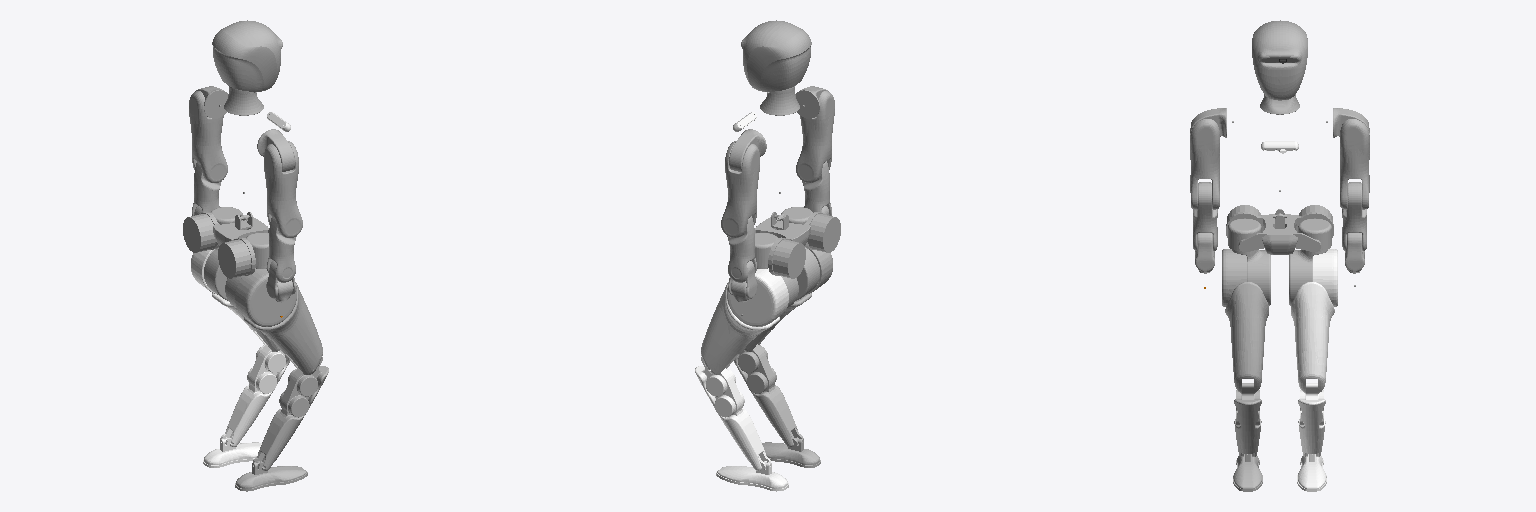
--- Facts derived from the render (not from the file) ---
3 views of the same robot in one strip: view 1: azimuth 30°, elevation 25°; view 2: azimuth 150°, elevation 25°; view 3: azimuth 270°, elevation 25° (orthographic).
Model l3 with 80 links and 79 joints (55 revolute, 24 fixed), rooted at base_link, posed every joint at zero.
Links seen in each view (by area): view 1: right_hip_pitch_link, neck_pitch_link, waist_yaw_link, right_knee_link, left_knee_link, right_shoulder_roll_link, right_ankle_roll_link, left_shoulder_roll_link, left_arm_yaw_link, right_arm_yaw_link, left_ankle_roll_link, left_hip_pitch_link (+8 smaller); view 2: left_hip_pitch_link, neck_pitch_link, waist_yaw_link, left_knee_link, right_knee_link, left_shoulder_roll_link, left_ankle_roll_link, right_shoulder_roll_link, left_arm_yaw_link, right_arm_yaw_link, right_ankle_roll_link, right_hip_pitch_link (+8 smaller); view 3: left_hip_pitch_link, right_hip_pitch_link, neck_pitch_link, waist_yaw_link, left_knee_link, right_knee_link, right_shoulder_roll_link, left_shoulder_roll_link, left_hip_yaw_link, right_hip_yaw_link, left_ankle_roll_link, right_ankle_roll_link (+9 smaller).
Link boxes in pixels (<box>): right_hip_pitch_link: <box>235,268,322,374</box>; neck_pitch_link: <box>212,20,282,91</box>; waist_yaw_link: <box>183,212,268,278</box>; right_knee_link: <box>253,357,328,470</box>; left_knee_link: <box>220,344,289,447</box>; right_shoulder_roll_link: <box>264,141,298,200</box>; right_ankle_roll_link: <box>235,462,307,491</box>; left_shoulder_roll_link: <box>189,91,223,145</box>; left_arm_yaw_link: <box>192,142,227,182</box>; right_arm_yaw_link: <box>267,197,302,237</box>; left_ankle_roll_link: <box>203,439,261,467</box>; left_hip_pitch_link: <box>191,249,279,351</box>; left_hip_pitch_link: <box>701,268,788,374</box>; neck_pitch_link: <box>741,20,811,91</box>; waist_yaw_link: <box>755,212,840,278</box>; left_knee_link: <box>695,357,770,470</box>; right_knee_link: <box>734,344,803,447</box>; left_shoulder_roll_link: <box>725,141,759,200</box>; left_ankle_roll_link: <box>716,462,788,491</box>; right_shoulder_roll_link: <box>800,91,834,145</box>; left_arm_yaw_link: <box>721,197,756,237</box>; right_arm_yaw_link: <box>796,142,831,182</box>; right_ankle_roll_link: <box>762,439,820,467</box>; right_hip_pitch_link: <box>744,249,832,351</box>; left_hip_pitch_link: <box>1291,249,1337,393</box>; right_hip_pitch_link: <box>1222,249,1268,393</box>; neck_pitch_link: <box>1252,20,1307,100</box>; waist_yaw_link: <box>1226,205,1333,254</box>; left_knee_link: <box>1298,383,1325,456</box>; right_knee_link: <box>1234,383,1261,456</box>; right_shoulder_roll_link: <box>1190,119,1219,172</box>; left_shoulder_roll_link: <box>1340,119,1369,172</box>; left_hip_yaw_link: <box>1289,250,1327,305</box>; right_hip_yaw_link: <box>1232,250,1270,305</box>; left_ankle_roll_link: <box>1297,454,1326,491</box>; right_ankle_roll_link: <box>1233,454,1262,491</box>.
Size in the robot's own frame: 0.3871 by 0.5897 by 1.61 metres.
41 mesh visuals loaded from 78 distinct referenced files (41 binary STL); not drawn: 37 (reference not matched to a file when rendering).

The robot description file, URDF, robot "l3":
<?xml version='1.0' encoding='utf-8'?>
<robot name="l3">
  <mujoco>
    <compiler
    meshdir="../meshes"
    balanceinertia="true"
    discardvisual="false"/>
  </mujoco>  
  <link name="base_link">
    <inertial>
      <origin xyz="0.0084431 0.0017506 -0.15762" rpy="0 0 0" />
      <mass value="12" />
      <inertia ixx="0.1567" ixy="0.0007" ixz="-0.0013" iyy="0.136" iyz="0.0014" izz="0.0814" />
    </inertial>
    <visual>
      <origin xyz="0 0 0" rpy="0 0 0" />
      <geometry>
        <mesh filename="../meshes/base_link.STL" />
      </geometry>
      <material name="">
        <color rgba="0.75294 0.75294 0.75294 1" />
      </material>
    </visual>
    <collision>
      <origin xyz="0 0 0" rpy="0 0 0" />
      <geometry>
        <mesh filename="../meshes/base_link.STL" />
      </geometry>
    </collision>
  </link>
  <link name="neck_yaw_link">
    <inertial>
      <origin xyz="0.022925 0.0064532 0.1431" rpy="0 0 0" />
      <mass value="0.64" />
      <inertia ixx="0.0007" ixy="7.2177E-07" ixz="6.2158E-05" iyy="0.00076082" iyz="-1.0259E-07" izz="0.00066743" />
    </inertial>
    <visual>
      <origin xyz="0 0 0" rpy="0 0 0" />
      <geometry>
        <mesh filename="../meshes/neck_yaw_link.STL" />
      </geometry>
      <material name="">
        <color rgba="0.75294 0.75294 0.75294 1" />
      </material>
    </visual>
    <collision>
      <origin xyz="0 0 0" rpy="0 0 0" />
      <geometry>
        <mesh filename="../meshes/neck_yaw_link.STL" />
      </geometry>
    </collision>
  </link>
  <joint name="neck_yaw_joint" type="revolute">
    <origin xyz="0 0 0.2365" rpy="0 0 0" />
    <parent link="base_link" />
    <child link="neck_yaw_link" />
    <axis xyz="0.0 0.0 1.0" />
    <limit lower="-1.57" upper="1.57" effort="35.0" velocity="4.19" />
    <dynamics friction="1.111" />
  </joint>
  <link name="neck_pitch_link">
    <inertial>
      <origin xyz="-0.011299 0.00058037 0.091458" rpy="0 0 0" />
      <mass value="1.15" />
      <inertia ixx="0.0068" ixy="5.8684E-07" ixz="-0.001" iyy="0.008" iyz="-1.8384E-06" izz="0.0067" />
    </inertial>
    <visual>
      <origin xyz="0 0 0" rpy="0 0 0" />
      <geometry>
        <mesh filename="../meshes/neck_pitch_link.STL" />
      </geometry>
      <material name="">
        <color rgba="0.75294 0.75294 0.75294 1" />
      </material>
    </visual>
    <collision>
      <origin xyz="0 0 0" rpy="0 0 0" />
      <geometry>
        <mesh filename="../meshes/neck_pitch_link.STL" />
      </geometry>
    </collision>
  </link>
  <joint name="neck_pitch_joint" type="revolute">
    <origin xyz="0.032 0 0.1535" rpy="0 0 0" />
    <parent link="neck_yaw_link" />
    <child link="neck_pitch_link" />
    <axis xyz="0.0 1.0 0.0" />
    <limit lower="-0.17" upper="0.54" effort="35.0" velocity="4.19" />
    <dynamics friction="1.111" />
  </joint>
  <link name="mic_link">
    <inertial>
      <origin xyz="4.0559559438211E-15 5.0626883046772E-14 0.00250000000000028" rpy="0 0 0" />
      <mass value="1.375E-08" />
      <inertia ixx="5.72916666666666E-14" ixy="-3.25716998007038E-30" ixz="-4.41640888106544E-30" iyy="5.72916666666666E-14" iyz="1.14211830008865E-30" izz="5.72916666666666E-14" />
    </inertial>
    <visual>
      <origin xyz="0 0 0" rpy="0 0 0" />
      <geometry>
        <mesh filename="../meshes/mic_link.STL" />
      </geometry>
      <material name="">
        <color rgba="1 0.549019607843137 0 1" />
      </material>
    </visual>
    <collision>
      <origin xyz="0 0 0" rpy="0 0 0" />
      <geometry>
        <mesh filename="../meshes/mic_link.STL" />
      </geometry>
    </collision>
  </link>
  <joint name="mic_joint" type="fixed">
    <origin xyz="-0.032 0 0.18725" rpy="0 0 0" />
    <parent link="neck_pitch_link" />
    <child link="mic_link" />
    <axis xyz="0.0 0.0 0.0" />
  </joint>
  <link name="head_rs_link">
    <inertial>
      <origin xyz="0.047424 0.00014285 -0.0082421" rpy="0 0 0" />
      <mass value="0.076907" />
      <inertia ixx="8.6659E-06" ixy="9.2769E-08" ixz="-9.1747E-08" iyy="9.4298E-05" iyz="9.0197E-08" izz="9.4996E-05" />
    </inertial>
    <visual>
      <origin xyz="0 0 0" rpy="0 0 0" />
      <geometry>
        <mesh filename="../meshes/head_rs_link.STL" />
      </geometry>
      <material name="">
        <color rgba="0.25098 0.25098 0.25098 1" />
      </material>
    </visual>
    <collision>
      <origin xyz="0 0 0" rpy="0 0 0" />
      <geometry>
        <mesh filename="../meshes/head_rs_link.STL" />
      </geometry>
    </collision>
  </link>
  <joint name="head_rs_joint" type="fixed">
    <origin xyz="0.070728434602136 0.0475000000000512 0.127173847577293" rpy="-2.0943951023932 0 -1.57079632679506" />
    <parent link="neck_pitch_link" />
    <child link="head_rs_link" />
    <axis xyz="0.0 0.0 0.0" />
  </joint>
  <link name="left_arm_base_link">
    <inertial>
      <origin xyz="0.00016424 0.033422 -0.0016166" rpy="0 0 0" />
      <mass value="0.9172" />
      <inertia ixx="0.0009" ixy="-6.5718E-07" ixz="4.9197E-07" iyy="0.0009" iyz="-3.689E-06" izz="0.0009" />
    </inertial>
    <visual>
      <origin xyz="0 0 0" rpy="0 0 0" />
      <geometry>
        <mesh filename="../meshes/left_arm_base_link.STL" />
      </geometry>
      <material name="">
        <color rgba="0.75294 0.75294 0.75294 1" />
      </material>
    </visual>
    <collision>
      <origin xyz="0 0 0" rpy="0 0 0" />
      <geometry>
        <mesh filename="../meshes/left_arm_base_link.STL" />
      </geometry>
    </collision>
  </link>
  <joint name="left_arm_base_joint" type="fixed">
    <origin xyz="0 0.112 0.2365" rpy="0 0 0" />
    <parent link="base_link" />
    <child link="left_arm_base_link" />
    <axis xyz="0.0 0.0 0.0" />
    <limit lower="0" upper="0" effort="0" velocity="0" />
  </joint>
  <link name="left_shoulder_pitch_link">
    <inertial>
      <origin xyz="-0.010548 0.12346 -0.021666" rpy="0 0 0" />
      <mass value="1.1618" />
      <inertia ixx="0.002" ixy="-0.0001" ixz="2.6138E-07" iyy="0.0015" iyz="-0.0002" izz="0.0019146" />
    </inertial>
    <visual>
      <origin xyz="0 0 0" rpy="0 0 0" />
      <geometry>
        <mesh filename="../meshes/left_shoulder_pitch_link.STL" />
      </geometry>
      <material name="">
        <color rgba="0.75294 0.75294 0.75294 1" />
      </material>
    </visual>
    <collision>
      <origin xyz="0 0 0" rpy="0 0 0" />
      <geometry>
        <mesh filename="../meshes/left_shoulder_pitch_link.STL" />
      </geometry>
    </collision>
  </link>
  <joint name="left_shoulder_pitch_joint" type="revolute">
    <origin xyz="0 0 0" rpy="0 0 0" />
    <parent link="left_arm_base_link" />
    <child link="left_shoulder_pitch_link" />
    <axis xyz="0.0 1.0 0.0" />
    <limit lower="-2.79" upper="2.79" effort="110.0" velocity="4.19" />
    <dynamics friction="1.222" />
  </joint>
  <link name="left_shoulder_roll_link">
    <inertial>
      <origin xyz="-0.0010652 -0.00016594 -0.091811" rpy="0 0 0" />
      <mass value="1.1852" />
      <inertia ixx="0.0029" ixy="-2.4124E-06" ixz="-7.7624E-06" iyy="0.0029" iyz="1.0466E-05" izz="0.0016" />
    </inertial>
    <visual>
      <origin xyz="0 0 0" rpy="0 0 0" />
      <geometry>
        <mesh filename="../meshes/left_shoulder_roll_link.STL" />
      </geometry>
      <material name="">
        <color rgba="0.75294 0.75294 0.75294 1" />
      </material>
    </visual>
    <collision>
      <origin xyz="0 0 0" rpy="0 0 0" />
      <geometry>
        <mesh filename="../meshes/left_shoulder_roll_link.STL" />
      </geometry>
    </collision>
  </link>
  <joint name="left_shoulder_roll_joint" type="revolute">
    <origin xyz="0 0.133 -0.025" rpy="0 0 0" />
    <parent link="left_shoulder_pitch_link" />
    <child link="left_shoulder_roll_link" />
    <axis xyz="1.0 0.0 0.0" />
    <limit lower="-0.24" upper="1.83" effort="110.0" velocity="4.19" />
    <dynamics friction="1.222" />
  </joint>
  <link name="left_arm_yaw_link">
    <inertial>
      <origin xyz="0.0033229 -0.0016876 -0.18801" rpy="0 0 0" />
      <mass value="0.354" />
      <inertia ixx="0.0011" ixy="3.633E-07" ixz="0.00013546" iyy="0.001" iyz="1.2618E-06" izz="0.0007" />
    </inertial>
    <visual>
      <origin xyz="0 0 0" rpy="0 0 0" />
      <geometry>
        <mesh filename="../meshes/left_arm_yaw_link.STL" />
      </geometry>
      <material name="">
        <color rgba="0.75294 0.75294 0.75294 1" />
      </material>
    </visual>
    <collision>
      <origin xyz="0 0 0" rpy="0 0 0" />
      <geometry>
        <mesh filename="../meshes/left_arm_yaw_link.STL" />
      </geometry>
    </collision>
  </link>
  <joint name="left_arm_yaw_joint" type="revolute">
    <origin xyz="0 0 0" rpy="0 0 0" />
    <parent link="left_shoulder_roll_link" />
    <child link="left_arm_yaw_link" />
    <axis xyz="0.0 0.0 1.0" />
    <limit lower="-2.79" upper="2.79" effort="110.0" velocity="4.19" />
    <dynamics friction="1.222" />
  </joint>
  <link name="left_elbow_pitch_link">
    <inertial>
      <origin xyz="-0.0079717 -0.0068363 -0.045353" rpy="0 0 0" />
      <mass value="1.567" />
      <inertia ixx="0.0048" ixy="-0.0001" ixz="0.0006" iyy="0.0048" iyz="0.0004" izz="0.0016" />
    </inertial>
    <visual>
      <origin xyz="0 0 0" rpy="0 0 0" />
      <geometry>
        <mesh filename="../meshes/left_elbow_pitch_link.STL" />
      </geometry>
      <material name="">
        <color rgba="0.75294 0.75294 0.75294 1" />
      </material>
    </visual>
    <collision>
      <origin xyz="0 0 0" rpy="0 0 0" />
      <geometry>
        <mesh filename="../meshes/left_elbow_pitch_link.STL" />
      </geometry>
    </collision>
  </link>
  <joint name="left_elbow_pitch_joint" type="revolute">
    <origin xyz="0.016 0 -0.232" rpy="0 0 0" />
    <parent link="left_arm_yaw_link" />
    <child link="left_elbow_pitch_link" />
    <axis xyz="0.0 1.0 0.0" />
    <limit lower="-2.36" upper="0.79" effort="110.0" velocity="4.19" />
    <dynamics friction="1.222" />
  </joint>
  <link name="left_elbow_yaw_link">
    <inertial>
      <origin xyz="3.0416E-06 -0.001965 0.030234" rpy="0 0 0" />
      <mass value="0.1556" />
      <inertia ixx="0.00019055" ixy="5.6249E-08" ixz="-2.3188E-08" iyy="0.0001" iyz="-2.1005E-06" izz="0.0002" />
    </inertial>
    <visual>
      <origin xyz="0 0 0" rpy="0 0 0" />
      <geometry>
        <mesh filename="../meshes/left_elbow_yaw_link.STL" />
      </geometry>
      <material name="">
        <color rgba="0.75294 0.75294 0.75294 1" />
      </material>
    </visual>
    <collision>
      <origin xyz="0 0 0" rpy="0 0 0" />
      <geometry>
        <mesh filename="../meshes/left_elbow_yaw_link.STL" />
      </geometry>
    </collision>
  </link>
  <joint name="left_elbow_yaw_joint" type="revolute">
    <origin xyz="-0.016 0 -0.166" rpy="0 0 0" />
    <parent link="left_elbow_pitch_link" />
    <child link="left_elbow_yaw_link" />
    <axis xyz="0.0 0.0 1.0" />
    <limit lower="-2.62" upper="2.62" effort="35.0" velocity="4.19" />
    <dynamics friction="1.111" />
  </joint>
  <link name="left_wrist_pitch_link">
    <inertial>
      <origin xyz="-0.00027663 -0.0069214 -0.0061943" rpy="0 0 0" />
      <mass value="0.625" />
      <inertia ixx="0.0006" ixy="1.3182E-08" ixz="-8.9769E-07" iyy="0.0006" iyz="7.1645E-06" izz="0.0004" />
    </inertial>
    <visual>
      <origin xyz="0 0 0" rpy="0 0 0" />
      <geometry>
        <mesh filename="../meshes/left_wrist_pitch_link.STL" />
      </geometry>
      <material name="">
        <color rgba="0.75294 0.75294 0.75294 1" />
      </material>
    </visual>
    <collision>
      <origin xyz="0 0 0" rpy="0 0 0" />
      <geometry>
        <mesh filename="../meshes/left_wrist_pitch_link.STL" />
      </geometry>
    </collision>
  </link>
  <joint name="left_wrist_pitch_joint" type="revolute">
    <origin xyz="0 0 0" rpy="0 0 0" />
    <parent link="left_elbow_yaw_link" />
    <child link="left_wrist_pitch_link" />
    <axis xyz="0.0 1.0 0.0" />
    <limit lower="-1.57" upper="1.57" effort="35.0" velocity="4.19" />
    <dynamics friction="1.111" />
  </joint>
  <link name="left_wrist_roll_link">
    <inertial>
      <origin xyz="-0.0075938 0.00010133 -0.00064617" rpy="0 0 0" />
      <mass value="0.58" />
      <inertia ixx="0.0003" ixy="-1.0565E-06" ixz="5.2302E-07" iyy="0.00027887" iyz="8.2448E-07" izz="0.0003" />
    </inertial>
    <visual>
      <origin xyz="0 0 0" rpy="0 0 0" />
      <geometry>
        <mesh filename="../meshes/left_wrist_roll_link.STL" />
      </geometry>
      <material name="">
        <color rgba="0.75294 0.75294 0.75294 1" />
      </material>
    </visual>
    <collision>
      <origin xyz="0 0 0" rpy="0 0 0" />
      <geometry>
        <mesh filename="../meshes/left_wrist_roll_link.STL" />
      </geometry>
    </collision>
  </link>
  <joint name="left_wrist_roll_joint" type="revolute">
    <origin xyz="0 0 -0.065" rpy="0 0 0" />
    <parent link="left_wrist_pitch_link" />
    <child link="left_wrist_roll_link" />
    <axis xyz="1.0 0.0 0.0" />
    <limit lower="-1.75" upper="1.75" effort="35.0" velocity="4.19" />
    <dynamics friction="1.111" />
  </joint>
  <link name="left_hand_base_link">
    <inertial>
      <origin xyz="-9.28058448083809E-16 0 0.0025" rpy="0 0 0" />
      <mass value="1.375E-08" />
      <inertia ixx="5.72916666666668E-14" ixy="-1.23935247990971E-29" ixz="7.41774071275437E-29" iyy="5.72916666666668E-14" iyz="-1.21732704397467E-31" izz="5.72916666666668E-14" />
    </inertial>
    <visual>
      <origin xyz="0 0 0" rpy="0 0 0" />
      <geometry>
        <mesh filename="../meshes/left_hand_base_link.STL" />
      </geometry>
      <material name="">
        <color rgba="1 0.549019607843137 0 1" />
      </material>
    </visual>
    <collision>
      <origin xyz="0 0 0" rpy="0 0 0" />
      <geometry>
        <mesh filename="../meshes/left_hand_base_link.STL" />
      </geometry>
    </collision>
  </link>
  <joint name="left_hand_base_joint" type="fixed">
    <origin xyz="0 0 -0.0400000000000008" rpy="0 0 0" />
    <parent link="left_wrist_roll_link" />
    <child link="left_hand_base_link" />
    <axis xyz="0.0 0.0 0.0" />
  </joint>
  <link name="left_hand_ee_link">
    <inertial>
      <origin xyz="-1.69621793423315E-16 -7.83468649371551E-16 0" rpy="0 0 0" />
      <mass value="3.53429173528852E-08" />
      <inertia ixx="3.97607820219958E-14" ixy="2.1306062234609E-28" ixz="-6.0696092927852E-27" iyy="9.35114688295087E-14" iyz="2.40522431637656E-41" izz="9.35114688295086E-14" />
    </inertial>
    <visual>
      <origin xyz="0 0 0" rpy="0 0 0" />
      <geometry>
        <mesh filename="../meshes/left_hand_ee_link.STL" />
      </geometry>
      <material name="">
        <color rgba="0.698039215686274 0.698039215686274 0.698039215686274 1" />
      </material>
    </visual>
    <collision>
      <origin xyz="0 0 0" rpy="0 0 0" />
      <geometry>
        <mesh filename="../meshes/left_hand_ee_link.STL" />
      </geometry>
    </collision>
  </link>
  <joint
    name="left_hand_ee_joint"
    type="fixed">
    <origin
      xyz="0 0 -0.06"
      rpy="3.1416 0 0" />
    <parent
      link="left_hand_link" />
    <child
      link="left_hand_ee_link" />
    <axis
      xyz="0 0 0" />
  </joint>  
  <link name="right_arm_base_link">
    <inertial>
      <origin xyz="-0.00016424 -0.033422 -0.0016166" rpy="0 0 0" />
      <mass value="0.9172" />
      <inertia ixx="0.0009" ixy="-6.5718E-07" ixz="-4.9197E-07" iyy="0.0009" iyz="3.689E-06" izz="0.0009" />
    </inertial>
    <visual>
      <origin xyz="0 0 0" rpy="0 0 0" />
      <geometry>
        <mesh filename="../meshes/right_arm_base_link.STL" />
      </geometry>
      <material name="">
        <color rgba="0.75294 0.75294 0.75294 1" />
      </material>
    </visual>
    <collision>
      <origin xyz="0 0 0" rpy="0 0 0" />
      <geometry>
        <mesh filename="../meshes/right_arm_base_link.STL" />
      </geometry>
    </collision>
  </link>
  <joint name="right_arm_base_joint" type="fixed">
    <origin xyz="0 -0.112 0.2365" rpy="0 0 0" />
    <parent link="base_link" />
    <child link="right_arm_base_link" />
    <axis xyz="0.0 0.0 0.0" />
  </joint>
  <link name="right_shoulder_pitch_link">
    <inertial>
      <origin xyz="-0.010534 -0.1231 -0.021409" rpy="0 0 0" />
      <mass value="1.1634" />
      <inertia ixx="0.0019" ixy="-1.4756E-06" ixz="5.7053E-07" iyy="0.0015" iyz="-6.7172E-05" izz="0.0019103" />
    </inertial>
    <visual>
      <origin xyz="0 0 0" rpy="0 0 0" />
      <geometry>
        <mesh filename="../meshes/right_shoulder_pitch_link.STL" />
      </geometry>
      <material name="">
        <color rgba="0.75294 0.75294 0.75294 1" />
      </material>
    </visual>
    <collision>
      <origin xyz="0 0 0" rpy="0 0 0" />
      <geometry>
        <mesh filename="../meshes/right_shoulder_pitch_link.STL" />
      </geometry>
    </collision>
  </link>
  <joint name="right_shoulder_pitch_joint" type="revolute">
    <origin xyz="0 0 0" rpy="0 0 0" />
    <parent link="right_arm_base_link" />
    <child link="right_shoulder_pitch_link" />
    <axis xyz="0.0 1.0 0.0" />
    <limit lower="-2.79" upper="2.79" effort="110.0" velocity="4.19" />
    <dynamics friction="1.222" />
  </joint>
  <link name="right_shoulder_roll_link">
    <inertial>
      <origin xyz="-0.001069 2.5863E-05 -0.09185" rpy="0 0 0" />
      <mass value="1.1852" />
      <inertia ixx="0.0029" ixy="-2.6029E-06" ixz="-7.8051E-06" iyy="0.0029" iyz="-1.2426E-05" izz="0.0016" />
    </inertial>
    <visual>
      <origin xyz="0 0 0" rpy="0 0 0" />
      <geometry>
        <mesh filename="../meshes/right_shoulder_roll_link.STL" />
      </geometry>
      <material name="">
        <color rgba="0.75294 0.75294 0.75294 1" />
      </material>
    </visual>
    <collision>
      <origin xyz="0 0 0" rpy="0 0 0" />
      <geometry>
        <mesh filename="../meshes/right_shoulder_roll_link.STL" />
      </geometry>
    </collision>
  </link>
  <joint name="right_shoulder_roll_joint" type="revolute">
    <origin xyz="0 -0.133 -0.025" rpy="0 0 0" />
    <parent link="right_shoulder_pitch_link" />
    <child link="right_shoulder_roll_link" />
    <axis xyz="1.0 0.0 0.0" />
    <limit lower="-1.83" upper="0.24" effort="110.0" velocity="4.19" />
    <dynamics friction="1.222" />
  </joint>
  <link name="right_arm_yaw_link">
    <inertial>
      <origin xyz="0.0018254 0.0021888 -0.18116" rpy="0 0 0" />
      <mass value="0.35384" />
      <inertia ixx="0.0011" ixy="-1.9189E-07" ixz="6.9862E-05" iyy="0.001" iyz="-6.1562E-07" izz="0.0007" />
    </inertial>
    <visual>
      <origin xyz="0 0 0" rpy="0 0 0" />
      <geometry>
        <mesh filename="../meshes/right_arm_yaw_link.STL" />
      </geometry>
      <material name="">
        <color rgba="0.75294 0.75294 0.75294 1" />
      </material>
    </visual>
    <collision>
      <origin xyz="0 0 0" rpy="0 0 0" />
      <geometry>
        <mesh filename="../meshes/right_arm_yaw_link.STL" />
      </geometry>
    </collision>
  </link>
  <joint name="right_arm_yaw_joint" type="revolute">
    <origin xyz="0 0 0" rpy="0 0 0" />
    <parent link="right_shoulder_roll_link" />
    <child link="right_arm_yaw_link" />
    <axis xyz="0.0 0.0 1.0" />
    <limit lower="-2.79" upper="2.79" effort="110.0" velocity="4.19" />
    <dynamics friction="1.222" />
  </joint>
  <link name="right_elbow_pitch_link">
    <inertial>
      <origin xyz="-0.008079 0.0068364 -0.045351" rpy="0 0 0" />
      <mass value="1.8745" />
      <inertia ixx="0.0048" ixy="0.0001" ixz="0.0005" iyy="0.0048" iyz="0.0004" izz="0.0016" />
    </inertial>
    <visual>
      <origin xyz="0 0 0" rpy="0 0 0" />
      <geometry>
        <mesh filename="../meshes/right_elbow_pitch_link.STL" />
      </geometry>
      <material name="">
        <color rgba="0.75294 0.75294 0.75294 1" />
      </material>
    </visual>
    <collision>
      <origin xyz="0 0 0" rpy="0 0 0" />
      <geometry>
        <mesh filename="../meshes/right_elbow_pitch_link.STL" />
      </geometry>
    </collision>
  </link>
  <joint name="right_elbow_pitch_joint" type="revolute">
    <origin xyz="0.016 0 -0.232" rpy="0 0 0" />
    <parent link="right_arm_yaw_link" />
    <child link="right_elbow_pitch_link" />
    <axis xyz="0.0 1.0 0.0" />
    <limit lower="-2.36" upper="0.79" effort="110.0" velocity="4.19" />
    <dynamics friction="1.222" />
  </joint>
  <link name="right_elbow_yaw_link">
    <inertial>
      <origin xyz="-3.0641E-06 0.001965 0.030234" rpy="0 0 0" />
      <mass value="0.1556" />
      <inertia ixx="0.00019055" ixy="5.6249E-08" ixz="2.3188E-08" iyy="0.0001" iyz="2.1005E-06" izz="0.0002" />
    </inertial>
    <visual>
      <origin xyz="0 0 0" rpy="0 0 0" />
      <geometry>
        <mesh filename="../meshes/right_elbow_yaw_link.STL" />
      </geometry>
      <material name="">
        <color rgba="0.75294 0.75294 0.75294 1" />
      </material>
    </visual>
    <collision>
      <origin xyz="0 0 0" rpy="0 0 0" />
      <geometry>
        <mesh filename="../meshes/right_elbow_yaw_link.STL" />
      </geometry>
    </collision>
  </link>
  <joint name="right_elbow_yaw_joint" type="revolute">
    <origin xyz="-0.016 0 -0.166" rpy="0 0 0" />
    <parent link="right_elbow_pitch_link" />
    <child link="right_elbow_yaw_link" />
    <axis xyz="0.0 0.0 1.0" />
    <limit lower="-2.62" upper="2.62" effort="35.0" velocity="4.19" />
    <dynamics friction="1.111" />
  </joint>
  <link name="right_wrist_pitch_link">
    <inertial>
      <origin xyz="-0.00021408 0.007602 -0.0035533" rpy="0 0 0" />
      <mass value="0.625" />
      <inertia ixx="0.0006" ixy="-2.5664E-07" ixz="-2.1058E-06" iyy="0.0006" iyz="-3.1746E-06" izz="0.0004" />
    </inertial>
    <visual>
      <origin xyz="0 0 0" rpy="0 0 0" />
      <geometry>
        <mesh filename="../meshes/right_wrist_pitch_link.STL" />
      </geometry>
      <material name="">
        <color rgba="0.75294 0.75294 0.75294 1" />
      </material>
    </visual>
    <collision>
      <origin xyz="0 0 0" rpy="0 0 0" />
      <geometry>
        <mesh filename="../meshes/right_wrist_pitch_link.STL" />
      </geometry>
    </collision>
  </link>
  <joint name="right_wrist_pitch_joint" type="revolute">
    <origin xyz="0 0 0" rpy="0 0 0" />
    <parent link="right_elbow_yaw_link" />
    <child link="right_wrist_pitch_link" />
    <axis xyz="0.0 1.0 0.0" />
    <limit lower="-1.57" upper="1.57" effort="35.0" velocity="4.19" />
    <dynamics friction="1.111" />
  </joint>
  <link name="right_wrist_roll_link">
    <inertial>
      <origin xyz="-0.0075938 0.00010133 -0.00064617" rpy="0 0 0" />
      <mass value="0.584" />
      <inertia ixx="0.0003" ixy="-1.0565E-06" ixz="5.2303E-07" iyy="0.00027887" iyz="8.2448E-07" izz="0.00029" />
    </inertial>
    <visual>
      <origin xyz="0 0 0" rpy="0 0 0" />
      <geometry>
        <mesh filename="../meshes/right_wrist_roll_link.STL" />
      </geometry>
      <material name="">
        <color rgba="0.75294 0.75294 0.75294 1" />
      </material>
    </visual>
    <collision>
      <origin xyz="0 0 0" rpy="0 0 0" />
      <geometry>
        <mesh filename="../meshes/right_wrist_roll_link.STL" />
      </geometry>
    </collision>
  </link>
  <joint name="right_wrist_roll_joint" type="revolute">
    <origin xyz="0 0 -0.065" rpy="0 0 0" />
    <parent link="right_wrist_pitch_link" />
    <child link="right_wrist_roll_link" />
    <axis xyz="1.0 0.0 0.0" />
    <limit lower="-1.75" upper="1.75" effort="35.0" velocity="4.19" />
    <dynamics friction="1.111" />
  </joint>
  <link name="right_hand_base_link">
    <inertial>
      <origin xyz="2.99955512309407E-14 -2.63677968348475E-15 0.0024999999999997" rpy="0 0 0" />
      <mass value="1.375E-08" />
      <inertia ixx="5.72916666666668E-14" ixy="-1.23935247990971E-29" ixz="7.41774071275437E-29" iyy="5.72916666666668E-14" iyz="-1.21732704397467E-31" izz="5.72916666666668E-14" />
    </inertial>
    <visual>
      <origin xyz="0 0 0" rpy="0 0 0" />
      <geometry>
        <mesh filename="../meshes/right_hand_base_link.STL" />
      </geometry>
      <material name="">
        <color rgba="1 0.549019607843137 0 1" />
      </material>
    </visual>
    <collision>
      <origin xyz="0 0 0" rpy="0 0 0" />
      <geometry>
        <mesh filename="../meshes/right_hand_base_link.STL" />
      </geometry>
    </collision>
  </link>
  <joint name="right_hand_base_joint" type="fixed">
    <origin xyz="0 0 -0.0399999999999996" rpy="0 0 0" />
    <parent link="right_wrist_roll_link" />
    <child link="right_hand_base_link" />
    <axis xyz="0.0 0.0 0.0" />
  </joint>
  <link name="right_hand_ee_link">
    <inertial>
      <origin xyz="-6.98527914532583E-15 -2.72004641033163E-15 0.00249999999999817" rpy="0 0 0" />
      <mass value="1.375E-08" />
      <inertia ixx="5.72916666666668E-14" ixy="-1.23935247990961E-29" ixz="-1.80141577278528E-28" iyy="5.72916666666668E-14" iyz="-4.55124076831941E-30" izz="5.72916666666668E-14" />
    </inertial>
    <visual>
      <origin xyz="0 0 0" rpy="0 0 0" />
      <geometry>
        <mesh filename="../meshes/right_hand_ee_link.STL" />
      </geometry>
      <material name="">
        <color rgba="1 0.549019607843137 0 1" />
      </material>
    </visual>
    <collision>
      <origin xyz="0 0 0" rpy="0 0 0" />
      <geometry>
        <mesh filename="../meshes/right_hand_ee_link.STL" />
      </geometry>
    </collision>
  </link>
    <joint
    name="right_hand_ee_joint"
    type="fixed">
    <origin
      xyz="0 0 -0.065"
      rpy="3.1416 0 0" />
    <parent
      link="right_hand_link" />
    <child
      link="right_hand_ee_link" />
    <axis
      xyz="0 0 0" />
  </joint>

  <link name="waist_base_link">
    <inertial>
      <origin xyz="-0.00086082 5.1861E-08 -0.050183" rpy="0 0 0" />
      <mass value="1.8301" />
      <inertia ixx="0.007" ixy="-1.1548E-06" ixz="-2.5479E-05" iyy="0.0018" iyz="1.7553E-10" izz="0.0074" />
    </inertial>
    <visual>
      <origin xyz="0 0 0" rpy="0 0 0" />
      <geometry>
        <mesh filename="../meshes/waist_base_link.STL" />
      </geometry>
      <material name="">
        <color rgba="0.75294 0.75294 0.75294 1" />
      </material>
    </visual>
    <collision>
      <origin xyz="0 0 0" rpy="0 0 0" />
      <geometry>
        <mesh filename="../meshes/waist_base_link.STL" />
      </geometry>
    </collision>
  </link>
  <joint name="waist_base_joint" type="fixed">
    <origin xyz="0 0 0" rpy="0 0 0" />
    <parent link="base_link" />
    <child link="waist_base_link" />
    <axis xyz="0.0 0.0 0.0" />
  </joint>
  <link name="waist_pitch_link">
    <inertial>
      <origin xyz="-3.9493E-09 -5.5675E-09 -5.9673E-05" rpy="0 0 0" />
      <mass value="0.068747" />
      <inertia ixx="5.3442E-06" ixy="-3.6643E-13" ixz="2.3097E-12" iyy="5.5342E-06" iyz="-9.5786E-13" izz="8.9493E-06" />
    </inertial>
    <visual>
      <origin xyz="0 0 0" rpy="0 0 0" />
      <geometry>
        <mesh filename="../meshes/waist_pitch_link.STL" />
      </geometry>
      <material name="">
        <color rgba="0.75294 0.75294 0.75294 1" />
      </material>
    </visual>
    <collision>
      <origin xyz="0 0 0" rpy="0 0 0" />
      <geometry>
        <mesh filename="../meshes/waist_pitch_link.STL" />
      </geometry>
    </collision>
  </link>
  <joint name="waist_pitch_joint" type="revolute">
    <origin xyz="0 0 -0.1015" rpy="0 0 0" />
    <parent link="waist_base_link" />
    <child link="waist_pitch_link" />
    <axis xyz="0.0 1.0 0.0" />
    <limit lower="-1.05" upper="0.09" effort="220.0" velocity="4.19" />
    <dynamics friction="1.222" />
  </joint>
  <link name="waist_roll_link">
    <inertial>
      <origin xyz="0.0028204 2.6985E-09 -0.017965" rpy="0 0 0" />
      <mass value="0.15785" />
      <inertia ixx="0.0001" ixy="1.7947E-10" ixz="1.1992E-06" iyy="0.0001" iyz="7.5361E-11" izz="0.0001" />
    </inertial>
    <visual>
      <origin xyz="0 0 0" rpy="0 0 0" />
      <geometry>
        <mesh filename="../meshes/waist_roll_link.STL" />
      </geometry>
      <material name="">
        <color rgba="0.75294 0.75294 0.75294 1" />
      </material>
    </visual>
    <collision>
      <origin xyz="0 0 0" rpy="0 0 0" />
      <geometry>
        <mesh filename="../meshes/waist_roll_link.STL" />
      </geometry>
    </collision>
  </link>
  <joint name="waist_roll_joint" type="revolute">
    <origin xyz="0 0 0" rpy="0 0 0" />
    <parent link="waist_pitch_link" />
    <child link="waist_roll_link" />
    <axis xyz="1.0 0.0 0.0" />
    <limit lower="-0.26" upper="0.26" effort="220.0" velocity="4.19" />
    <dynamics friction="1.222" />
  </joint>
  <link name="waist_yaw_link">
    <inertial>
      <origin xyz="-0.064098 -0.00018359 -0.074077" rpy="0 0 0" />
      <mass value="5.778" />
      <inertia ixx="0.068" ixy="4.0449E-06" ixz="0.0017" iyy="0.0188" iyz="-0.0002" izz="0.0756" />
    </inertial>
    <visual>
      <origin xyz="0 0 0" rpy="0 0 0" />
      <geometry>
        <mesh filename="../meshes/waist_yaw_link.STL" />
      </geometry>
      <material name="">
        <color rgba="0.75294 0.75294 0.75294 1" />
      </material>
    </visual>
    <collision>
      <origin xyz="0 0 0" rpy="0 0 0" />
      <geometry>
        <mesh filename="../meshes/waist_yaw_link.STL" />
      </geometry>
    </collision>
  </link>
  <joint name="waist_yaw_joint" type="revolute">
    <origin xyz="0 0 0" rpy="0 0 0" />
    <parent link="waist_roll_link" />
    <child link="waist_yaw_link" />
    <axis xyz="0.0 0.0 1.0" />
    <limit lower="-1.57" upper="1.57" effort="110.0" velocity="4.19" />
    <dynamics friction="1.222" />
  </joint>
  <link name="left_hip_roll_link">
    <inertial>
      <origin xyz="-0.0016523 6.6007E-06 0.003973" rpy="0 0 0" />
      <mass value="1.6446" />
      <inertia ixx="0.0023" ixy="-4.1132E-08" ixz="1.953E-05" iyy="0.0024" iyz="-6.1327E-07" izz="0.0029425" />
    </inertial>
    <visual>
      <origin xyz="0 0 0" rpy="0 0 0" />
      <geometry>
        <mesh filename="../meshes/left_hip_roll_link.STL" />
      </geometry>
      <material name="">
        <color rgba="0.75294 0.75294 0.75294 1" />
      </material>
    </visual>
    <collision>
      <origin xyz="0 0 0" rpy="0 0 0" />
      <geometry>
        <mesh filename="../meshes/left_hip_roll_link.STL" />
      </geometry>
    </collision>
  </link>
  <joint name="left_hip_roll_joint" type="revolute">
    <origin xyz="0 0.115 -0.079" rpy="0 0 0" />
    <parent link="waist_yaw_link" />
    <child link="left_hip_roll_link" />
    <axis xyz="1.0 0.0 0.0" />
    <limit lower="-0.21" upper="1.22" effort="255.0" velocity="7.28" />
    <dynamics friction="1.444" />
  </joint>
  <link name="left_hip_yaw_link">
    <inertial>
      <origin xyz="-0.00030509 -0.036415 -0.13923" rpy="0 0 0" />
      <mass value="3.9286" />
      <inertia ixx="0.0108" ixy="0.0001" ixz="6.0163E-05" iyy="0.0163" iyz="0.0006" izz="0.0089" />
    </inertial>
    <visual>
      <origin xyz="0 0 0" rpy="0 0 0" />
      <geometry>
        <mesh filename="../meshes/left_hip_yaw_link.STL" />
      </geometry>
      <material name="">
        <color rgba="0.75294 0.75294 0.75294 1" />
      </material>
    </visual>
    <collision>
      <origin xyz="0 0 0" rpy="0 0 0" />
      <geometry>
        <mesh filename="../meshes/left_hip_yaw_link.STL" />
      </geometry>
    </collision>
  </link>
  <joint name="left_hip_yaw_joint" type="revolute">
    <origin xyz="0 0 0" rpy="0 0 0" />
    <parent link="left_hip_roll_link" />
    <child link="left_hip_yaw_link" />
    <axis xyz="0.0 0.0 1.0" />
    <limit lower="-0.52" upper="1.22" effort="100" velocity="13.26" />
    <dynamics friction="1.333" />
  </joint>
  <link name="left_hip_pitch_link">
    <inertial>
      <origin xyz="0.0017618 0.037227 -0.029964" rpy="0 0 0" />
      <mass value="4.6841" />
      <inertia ixx="0.0422" ixy="-0.0004" ixz="-0.002" iyy="0.0469" iyz="0.0055" izz="0.0055" />
    </inertial>
    <visual>
      <origin xyz="0 0 0" rpy="0 0 0" />
      <geometry>
        <mesh filename="../meshes/left_hip_pitch_link.STL" />
      </geometry>
      <material name="">
        <color rgba="1 1 1 1" />
      </material>
    </visual>
    <collision>
      <origin xyz="0 0 0" rpy="0 0 0" />
      <geometry>
        <mesh filename="../meshes/left_hip_pitch_link.STL" />
      </geometry>
    </collision>
  </link>
  <joint name="left_hip_pitch_joint" type="revolute">
    <origin xyz="0 -0.01 -0.144" rpy="0 -0.5236 0" />
    <parent link="left_hip_yaw_link" />
    <child link="left_hip_pitch_link" />
    <axis xyz="0.0 1.0 0.0" />
    <limit lower="-1.57" upper="1.4" effort="400.0" velocity="24.94" />
    <dynamics friction="1.555" />
  </joint>
  <link name="left_knee_link">
    <inertial>
      <origin xyz="0.019103 -4.8925E-06 -0.11971" rpy="0 0 0" />
      <mass value="2.1362" />
      <inertia ixx="0.018" ixy="-6.9431E-07" ixz="0.0005" iyy="0.018" iyz="0.0001" izz="0.0019" />
    </inertial>
    <visual>
      <origin xyz="0 0 0" rpy="0 0 0" />
      <geometry>
        <mesh filename="../meshes/left_knee_link.STL" />
      </geometry>
      <material name="">
        <color rgba="1 1 1 1" />
      </material>
    </visual>
    <collision>
      <origin xyz="0 0 0" rpy="0 0 0" />
      <geometry>
        <mesh filename="../meshes/left_knee_link.STL" />
      </geometry>
    </collision>
  </link>
  <joint name="left_knee_joint" type="revolute">
    <origin xyz="0 0 -0.36" rpy="0 1.0472 0" />
    <parent link="left_hip_pitch_link" />
    <child link="left_knee_link" />
    <axis xyz="0.0 1.0 0.0" />
    <limit lower="-1.1" upper="1.31" effort="400.0" velocity="24.94" />
    <dynamics friction="1.555" />
  </joint>
  <link name="left_ankle_pitch_link">
    <inertial>
      <origin xyz="-0.00077711 1.5934E-09 5.1139E-05" rpy="0 0 0" />
      <mass value="0.080248" />
      <inertia ixx="4.8112E-06" ixy="-3.3221E-13" ixz="-2.5895E-09" iyy="5.5064E-06" iyz="6.6609E-12" izz="6.4137E-06" />
    </inertial>
    <visual>
      <origin xyz="0 0 0" rpy="0 0 0" />
      <geometry>
        <mesh filename="../meshes/left_ankle_pitch_link.STL" />
      </geometry>
      <material name="">
        <color rgba="1 1 1 1" />
      </material>
    </visual>
    <collision>
      <origin xyz="0 0 0" rpy="0 0 0" />
      <geometry>
        <mesh filename="../meshes/left_ankle_pitch_link.STL" />
      </geometry>
    </collision>
  </link>
  <joint name="left_ankle_pitch_joint" type="revolute">
    <origin xyz="0 0 -0.36" rpy="0 -0.5236 0" />
    <parent link="left_knee_link" />
    <child link="left_ankle_pitch_link" />
    <axis xyz="0.0 1.0 0.0" />
    <limit lower="-0.66" upper="1.22" effort="100.0" velocity="13.26" />
    <dynamics friction="0.666" />
  </joint>
  <link name="left_ankle_roll_link">
    <inertial>
      <origin xyz="0.035309 -1.4216E-06 -0.045803" rpy="0 0 0" />
      <mass value="0.85281" />
      <inertia ixx="0.0006" ixy="1.1088E-07" ixz="-0.0003" iyy="0.004" iyz="-1.2805E-08" izz="0.0042" />
    </inertial>
    <visual>
      <origin xyz="0 0 0" rpy="0 0 0" />
      <geometry>
        <mesh filename="../meshes/left_ankle_roll_link.STL" />
      </geometry>
      <material name="">
        <color rgba="1 1 1 1" />
      </material>
    </visual>
    <collision>
      <origin xyz="0 0 0" rpy="0 0 0" />
      <geometry>
        <mesh filename="../meshes/left_ankle_roll_link.STL" />
      </geometry>
    </collision>
  </link>
  <joint name="left_ankle_roll_joint" type="revolute">
    <origin xyz="0 0 0" rpy="0 0 0" />
    <parent link="left_ankle_pitch_link" />
    <child link="left_ankle_roll_link" />
    <axis xyz="1.0 0.0 0.0" />
    <limit lower="-0.31" upper="0.31" effort="100.0" velocity="13.26" />
    <dynamics friction="0.666" />
  </joint>
 
  <link name="right_hip_roll_link">
    <inertial>
      <origin xyz="-0.0016523 6.6007E-06 0.003973" rpy="0 0 0" />
      <mass value="1.6446" />
      <inertia ixx="0.0023" ixy="-4.1132E-08" ixz="1.953E-05" iyy="0.0024" iyz="-6.1327E-07" izz="0.0031" />
    </inertial>
    <visual>
      <origin xyz="0 0 0" rpy="0 0 0" />
      <geometry>
        <mesh filename="../meshes/right_hip_roll_link.STL" />
      </geometry>
      <material name="">
        <color rgba="0.75294 0.75294 0.75294 1" />
      </material>
    </visual>
    <collision>
      <origin xyz="0 0 0" rpy="0 0 0" />
      <geometry>
        <mesh filename="../meshes/right_hip_roll_link.STL" />
      </geometry>
    </collision>
  </link>
  <joint name="right_hip_roll_joint" type="revolute">
    <origin xyz="0 -0.115 -0.079" rpy="0 0 0" />
    <parent link="waist_yaw_link" />
    <child link="right_hip_roll_link" />
    <axis xyz="1.0 0.0 0.0" />
    <limit lower="-1.22" upper="0.21" effort="255.0" velocity="7.28" />
    <dynamics friction="1.444" />
  </joint>
  <link name="right_hip_yaw_link">
    <inertial>
      <origin xyz="-0.00055103 0.036441 -0.13872" rpy="0 0 0" />
      <mass value="3.9259" />
      <inertia ixx="0.0108" ixy="-0.0001" ixz="-1.1516E-05" iyy="0.0163" iyz="-0.0007" izz="0.0088" />
    </inertial>
    <visual>
      <origin xyz="0 0 0" rpy="0 0 0" />
      <geometry>
        <mesh filename="../meshes/right_hip_yaw_link.STL" />
      </geometry>
      <material name="">
        <color rgba="0.75294 0.75294 0.75294 1" />
      </material>
    </visual>
    <collision>
      <origin xyz="0 0 0" rpy="0 0 0" />
      <geometry>
        <mesh filename="../meshes/right_hip_yaw_link.STL" />
      </geometry>
    </collision>
  </link>
  <joint name="right_hip_yaw_joint" type="revolute">
    <origin xyz="0 0 0" rpy="0 0 0" />
    <parent link="right_hip_roll_link" />
    <child link="right_hip_yaw_link" />
    <axis xyz="0.0 0.0 1.0" />
    <limit lower="-1.22" upper="0.52" effort="100.0" velocity="13.26" />
    <dynamics friction="1.333" />
  </joint>
  <link name="right_hip_pitch_link">
    <inertial>
      <origin xyz="0.001563 -0.037227 -0.029942" rpy="0 0 0" />
      <mass value="4.6841" />
      <inertia ixx="0.0422" ixy="0.0002" ixz="-0.002" iyy="0.0469" iyz="-0.0055" izz="0.0121" />
    </inertial>
    <visual>
      <origin xyz="0 0 0" rpy="0 0 0" />
      <geometry>
        <mesh filename="../meshes/right_hip_pitch_link.STL" />
      </geometry>
      <material name="">
        <color rgba="0.75294 0.75294 0.75294 1" />
      </material>
    </visual>
    <collision>
      <origin xyz="0 0 0" rpy="0 0 0" />
      <geometry>
        <mesh filename="../meshes/right_hip_pitch_link.STL" />
      </geometry>
    </collision>
  </link>
  <joint name="right_hip_pitch_joint" type="revolute">
    <origin xyz="0 0.01 -0.144" rpy="0 -0.5236 0" />
    <parent link="right_hip_yaw_link" />
    <child link="right_hip_pitch_link" />
    <axis xyz="0.0 1.0 0.0" />
    <limit lower="-1.57" upper="1.4" effort="400.0" velocity="24.94" />
    <dynamics friction="1.555" />
  </joint>
  <link name="right_knee_link">
    <inertial>
      <origin xyz="0.01895 -4.8931E-06 -0.11968" rpy="0 0 0" />
      <mass value="2.1362" />
      <inertia ixx="0.0182" ixy="1.3108E-06" ixz="0.0005" iyy="0.0183" iyz="-0.0001" izz="0.0019" />
    </inertial>
    <visual>
      <origin xyz="0 0 0" rpy="0 0 0" />
      <geometry>
        <mesh filename="../meshes/right_knee_link.STL" />
      </geometry>
      <material name="">
        <color rgba="0.75294 0.75294 0.75294 1" />
      </material>
    </visual>
    <collision>
      <origin xyz="0 0 0" rpy="0 0 0" />
      <geometry>
        <mesh filename="../meshes/right_knee_link.STL" />
      </geometry>
    </collision>
  </link>
  <joint name="right_knee_joint" type="revolute">
    <origin xyz="0 0 -0.36" rpy="0 1.0472 0" />
    <parent link="right_hip_pitch_link" />
    <child link="right_knee_link" />
    <axis xyz="0.0 1.0 0.0" />
    <limit lower="-1.1" upper="1.31" effort="400.0" velocity="24.94" />
    <dynamics friction="1.555" />
  </joint>
  <link name="right_ankle_pitch_link">
    <inertial>
      <origin xyz="0.00077711 1.5954E-09 -5.1139E-05" rpy="0 0 0" />
      <mass value="0.080248" />
      <inertia ixx="4.8112E-06" ixy="3.3221E-13" ixz="-2.5895E-09" iyy="5.5064E-06" iyz="-6.6456E-12" izz="6.4137E-06" />
    </inertial>
    <visual>
      <origin xyz="0 0 0" rpy="0 0 0" />
      <geometry>
        <mesh filename="../meshes/right_ankle_pitch_link.STL" />
      </geometry>
      <material name="">
        <color rgba="0.75294 0.75294 0.75294 1" />
      </material>
    </visual>
    <collision>
      <origin xyz="0 0 0" rpy="0 0 0" />
      <geometry>
        <mesh filename="../meshes/right_ankle_pitch_link.STL" />
      </geometry>
    </collision>
  </link>
  <joint name="right_ankle_pitch_joint" type="revolute">
    <origin xyz="0 0 -0.36" rpy="0 -0.5236 0" />
    <parent link="right_knee_link" />
    <child link="right_ankle_pitch_link" />
    <axis xyz="0.0 1.0 0.0" />
    <limit lower="-0.66" upper="1.22" effort="100.0" velocity="13.26" />
    <dynamics friction="0.666" />
  </joint>
  <link name="right_ankle_roll_link">
    <inertial>
      <origin xyz="0.03731 -1.4676E-06 -0.045803" rpy="0 0 0" />
      <mass value="0.85281" />
      <inertia ixx="0.0006" ixy="1.1631E-07" ixz="-0.0003" iyy="0.004" iyz="-1.3563E-08" izz="0.0042" />
    </inertial>
    <visual>
      <origin xyz="0 0 0" rpy="0 0 0" />
      <geometry>
        <mesh filename="../meshes/right_ankle_roll_link.STL" />
      </geometry>
      <material name="">
        <color rgba="0.75294 0.75294 0.75294 1" />
      </material>
    </visual>
    <collision>
      <origin xyz="0 0 0" rpy="0 0 0" />
      <geometry>
        <mesh filename="../meshes/right_ankle_roll_link.STL" />
      </geometry>
    </collision>
  </link>
  <joint name="right_ankle_roll_joint" type="revolute">
    <origin xyz="0 0 0" rpy="0 0 0" />
    <parent link="right_ankle_pitch_link" />
    <child link="right_ankle_roll_link" />
    <axis xyz="1.0 0.0 0.0" />
    <limit lower="-0.31" upper="0.31" effort="100.0" velocity="13.26" />
    <dynamics friction="0.666" />
  </joint>
  <link name="base_rs_link">
    <inertial>
      <origin xyz="0.047424 0.00014285 -0.0082421" rpy="0 0 0" />
      <mass value="0.076907" />
      <inertia ixx="8.6659E-06" ixy="9.2769E-08" ixz="9.2769E-08" iyy="9.4298E-05" iyz="9.2769E-08" izz="9.4996E-05" />
    </inertial>
    <visual>
      <origin xyz="0 0 0" rpy="0 0 0" />
      <geometry>
        <mesh filename="../meshes/base_rs_link.STL" />
      </geometry>
      <material name="">
        <color rgba="1 1 1 1" />
      </material>
    </visual>
    <collision>
      <origin xyz="0 0 0" rpy="0 0 0" />
      <geometry>
        <mesh filename="../meshes/base_rs_link.STL" />
      </geometry>
    </collision>
  </link>
  <joint name="base_rs_joint" type="fixed">
    <origin xyz="0.137441900948728 0.047500000000018 0.207680711884881" rpy="-2.35619449019235 0 -1.5707963267949" />
    <parent link="base_link" />
    <child link="base_rs_link" />
    <axis xyz="0.0 0.0 0.0" />
  </joint>

  <link name="left_arm_flange_link">
  </link> 
  <joint
    name="left_arm_flange_fixed_joint"
    type="fixed">
    <origin
      xyz="0.0 0.0 0.0"
      rpy="3.1415926 0.0 0.0" />
    <parent
      link="left_hand_base_link" />
    <child
      link="left_arm_flange_link" />
  </joint>
  <!--left hand -->  
  <link name="left_hand_link">
    <inertial>
      <origin xyz="-0.00718397232462035 -0.00342395518292698 -0.0584832405332602" rpy="0 0 0" />
      <mass value="0.529961023577223" />
      <inertia ixx="0.000480653113997558" ixy="5.6276926629699E-06" ixz="-4.05859709772904E-05" iyy="0.00067789113848308" iyz="-4.83494002678735E-06" izz="0.00034697306572534" />
    </inertial>
    <visual>
      <origin xyz="0 0 0" rpy="0 0 0" />
      <geometry>
        <mesh filename="../meshes/left_hand_link.STL" />
      </geometry>
      <material name="">
        <color rgba="0.866666666666667 0.866666666666667 0.890196078431372 1" />
      </material>
    </visual>
    <collision>
      <origin xyz="0 0 0" rpy="0 0 0" />
      <geometry>
        <mesh filename="../meshes/left_hand_link.STL" />
      </geometry>
    </collision>
  </link>
  <joint
    name="left_hand_fixed_joint"
    type="fixed">
    <origin
      xyz="0.0 0.0 0.0"
      rpy="0.0 0 0" />
    <parent
      link="left_hand_base_link" />
    <child
      link="left_hand_link" />
  </joint>
  <link name="left_hand_thumb_bend_link">
    <inertial>
      <origin xyz="0.0145290714760328 0.000901344264936247 -0.000127911758588877" rpy="0 0 0" />
      <mass value="0.0098553409170395" />
      <inertia ixx="5.42977914410068E-07" ixy="-1.16969836118924E-08" ixz="-3.74492329986334E-08" iyy="1.29130197093564E-06" iyz="-1.5496972766742E-09" izz="1.30457824480983E-06" />
    </inertial>
    <visual>
      <origin xyz="0 0 0" rpy="0 0 0" />
      <geometry>
        <mesh filename="../meshes/left_hand_thumb_bend_link.STL" />
      </geometry>
      <material name="">
        <color rgba="0.890196078431372 0.890196078431372 0.913725490196078 1" />
      </material>
    </visual>
    <collision>
      <origin xyz="0 0 0" rpy="0 0 0" />
      <geometry>
        <mesh filename="../meshes/left_hand_thumb_bend_link.STL" />
      </geometry>
    </collision>
  </link>
  <joint name="left_hand_thumb_bend_joint" type="revolute">
    <origin xyz="0.0228 -0.0095 -0.0305" rpy="0 0 0" />
    <parent link="left_hand_link" />
    <child link="left_hand_thumb_bend_link" />
    <axis xyz="0 0 -1" />
    <limit lower="0" upper="1.83" effort="1.1" velocity="8.63" />
    <dynamics damping="1" friction="1" />
  </joint>
  <link name="left_hand_thumb_rota_link1">
    <inertial>
      <origin xyz="0.0279279151977349 0.000121046050863875 -0.000277543472497595" rpy="0 0 0" />
      <mass value="0.153197010050709" />
      <inertia ixx="2.41523784234409E-05" ixy="6.62856100469595E-06" ixz="1.88729265232125E-07" iyy="4.7191218462316E-05" iyz="1.13949521391224E-07" izz="5.6212272955421E-05" />
    </inertial>
    <visual>
      <origin xyz="0 0 0" rpy="0 0 0" />
      <geometry>
        <mesh filename="../meshes/left_hand_thumb_rota_link1.STL" />
      </geometry>
      <material name="">
        <color rgba="1 1 1 1" />
      </material>
    </visual>
    <collision>
      <origin xyz="0 0 0" rpy="0 0 0" />
      <geometry>
        <mesh filename="../meshes/left_hand_thumb_rota_link1.STL" />
      </geometry>
    </collision>
  </link>
  <joint name="left_hand_thumb_rota_joint1" type="revolute">
    <origin xyz="0.028599 -0.0083177 0.00178" rpy="-0.2618 0 -0.0407" />
    <parent link="left_hand_thumb_bend_link" />
    <child link="left_hand_thumb_rota_link1" />
    <axis xyz="0 1 0" />
    <limit lower="-1.05" upper="1.57" effort="1.1" velocity="8.63" />
    <dynamics damping="1" friction="1" />
  </joint>
  <link name="left_hand_thumb_rota_link2">
    <inertial>
      <origin xyz="0.0224529466888815 0.000690615200902365 0.00314278985524262" rpy="0 0 0" />
      <mass value="0.0374009578136616" />
      <inertia ixx="3.98060244076823E-06" ixy="4.94846156827651E-07" ixz="1.18267329781539E-07" iyy="8.21784089346997E-06" iyz="6.13556519818818E-08" izz="9.54038333156961E-06" />
    </inertial>
    <visual>
      <origin xyz="0 0 0" rpy="0 0 0" />
      <geometry>
        <mesh filename="../meshes/left_hand_thumb_rota_link2.STL" />
      </geometry>
      <material name="">
        <color rgba="0.384313725490196 0.384313725490196 0.384313725490196 1" />
      </material>
    </visual>
    <collision>
      <origin xyz="0 0 0" rpy="0 0 0" />
      <geometry>
        <mesh filename="../meshes/left_hand_thumb_rota_link2.STL" />
      </geometry>
    </collision>
  </link>
  <joint name="left_hand_thumb_rota_joint2" type="revolute">
    <origin xyz="0.0553 0 0" rpy="0 0 0" />
    <parent link="left_hand_thumb_rota_link1" />
    <child link="left_hand_thumb_rota_link2" />
    <axis xyz="0 1 0" />
    <limit lower="-0.17" upper="1.83" effort="0.4" velocity="14.38" />
    <dynamics damping="1" friction="1" />
  </joint>
  <link name="left_hand_thumb_rota_tip">
    <inertial>
      <origin xyz="2.77555756156289E-17 8.24456234185811E-09 0.000270106204327401" rpy="0 0 0" />
      <mass value="3.53429173528852E-08" />
      <inertia ixx="9.35114688295086E-14" ixy="-1.32725847303435E-28" ixz="9.86076131526265E-32" iyy="3.97607820219959E-14" iyz="-1.58322857389778E-21" izz="9.35114688295086E-14" />
    </inertial>
    <visual>
      <origin xyz="0 0 0" rpy="0 0 0" />
      <geometry>
        <mesh filename="../meshes/left_hand_thumb_rota_tip.STL" />
      </geometry>
      <material name="">
        <color rgba="0.698039215686274 0.698039215686274 0.698039215686274 1" />
      </material>
    </visual>
    <collision>
      <origin xyz="0 0 0" rpy="0 0 0" />
      <geometry>
        <mesh filename="../meshes/left_hand_thumb_rota_tip.STL" />
      </geometry>
    </collision>
  </link>
  <joint name="left_hand_thumb_rota_joint3" type="fixed">
    <origin xyz="0.0504017317642718 0 0" rpy="0 0 0" />
    <parent link="left_hand_thumb_rota_link2" />
    <child link="left_hand_thumb_rota_tip" />
    <axis xyz="0 0 0" />
  </joint>
  <link name="left_hand_index_bend_link">
    <inertial>
      <origin xyz="-0.000134544831370011 -0.000675884062860156 0.00420851049165961" rpy="0 0 0" />
      <mass value="0.0677836037392838" />
      <inertia ixx="2.16567127431793E-05" ixy="1.17519873383444E-08" ixz="-8.90740188704384E-08" iyy="2.09681513604224E-05" iyz="6.68676922531736E-07" izz="3.39515033610064E-06" />
    </inertial>
    <visual>
      <origin xyz="0 0 0" rpy="0 0 0" />
      <geometry>
        <mesh filename="../meshes/left_hand_index_bend_link.STL" />
      </geometry>
      <material name="">
        <color rgba="0.988235294117647 0.737254901960784 0.517647058823529 1" />
      </material>
    </visual>
    <collision>
      <origin xyz="0 0 0" rpy="0 0 0" />
      <geometry>
        <mesh filename="../meshes/left_hand_index_bend_link.STL" />
      </geometry>
    </collision>
  </link>
  <joint name="left_hand_index_bend_joint" type="revolute">
    <origin xyz="0.0265 -0.0065 -0.0899" rpy="0 0 0" />
    <parent link="left_hand_link" />
    <child link="left_hand_index_bend_link" />
    <axis xyz="0 1 0" />
    <limit lower="-0.175" upper="0.175" effort="0.4" velocity="14.38" />
    <dynamics damping="1" friction="1" />
  </joint>
  <link name="left_hand_index_rota_link1">
    <inertial>
      <origin xyz="0.000139769333493966 0.000800517079915854 -0.0356038561271479" rpy="0 0 0" />
      <mass value="0.0630216014538817" />
      <inertia ixx="2.0518746365106E-05" ixy="7.80218143369854E-09" ixz="-4.29054701209884E-07" iyy="1.92422615292432E-05" iyz="-2.4702784768408E-07" izz="4.15027341232346E-06" />
    </inertial>
    <visual>
      <origin xyz="0 0 0" rpy="0 0 0" />
      <geometry>
        <mesh filename="../meshes/left_hand_index_rota_link1.STL" />
      </geometry>
      <material name="">
        <color rgba="1 1 1 1" />
      </material>
    </visual>
    <collision>
      <origin xyz="0 0 0" rpy="0 0 0" />
      <geometry>
        <mesh filename="../meshes/left_hand_index_rota_link1.STL" />
      </geometry>
    </collision>
  </link>
  <joint name="left_hand_index_joint1" type="revolute">
    <origin xyz="0 0 -0.0178" rpy="0 0 0" />
    <parent link="left_hand_index_bend_link" />
    <child link="left_hand_index_rota_link1" />
    <axis xyz="-1 0 0" />
    <limit lower="0" upper="1.92" effort="1.1" velocity="8.63" />
    <dynamics damping="1" friction="1" />
  </joint>
  <link name="left_hand_index_rota_link2">
    <inertial>
      <origin xyz="0.000338569414886528 -1.93676040351407E-05 -0.0231328539120741" rpy="0 0 0" />
      <mass value="0.0179923076570599" />
      <inertia ixx="3.01810067223025E-06" ixy="-4.92126455642096E-10" ixz="-9.09991288403927E-08" iyy="3.0198354354144E-06" iyz="-5.99900012810543E-08" izz="9.885388987729E-07" />
    </inertial>
    <visual>
      <origin xyz="0 0 0" rpy="0 0 0" />
      <geometry>
        <mesh filename="../meshes/left_hand_index_rota_link2.STL" />
      </geometry>
      <material name="">
        <color rgba="0.866666666666667 0.866666666666667 0.890196078431372 1" />
      </material>
    </visual>
    <collision>
      <origin xyz="0 0 0" rpy="0 0 0" />
      <geometry>
        <mesh filename="../meshes/left_hand_index_rota_link2.STL" />
      </geometry>
    </collision>
  </link>
  <joint name="left_hand_index_joint2" type="revolute">
    <origin xyz="0 0 -0.0558" rpy="0 0 0" />
    <parent link="left_hand_index_rota_link1" />
    <child link="left_hand_index_rota_link2" />
    <axis xyz="-1 0 0" />
    <limit lower="0" upper="1.92" effort="0.4" velocity="14.38" />
    <dynamics damping="1" friction="1" />
  </joint>
  <link name="left_hand_index_rota_tip">
    <inertial>
      <origin xyz="9.47159017883337E-16 -1.66550800928533E-14 0" rpy="0 0 0" />
      <mass value="3.53429173528852E-08" />
      <inertia ixx="3.97607820219958E-14" ixy="2.06598273810657E-28" ixz="3.39655762044409E-26" iyy="9.35114688295087E-14" iyz="-1.30578596099644E-40" izz="9.35114688295087E-14" />
    </inertial>
    <visual>
      <origin xyz="0 0 0" rpy="0 0 0" />
      <geometry>
        <mesh filename="../meshes/left_hand_index_rota_tip.STL" />
      </geometry>
      <material name="">
        <color rgba="0.698039215686274 0.698039215686274 0.698039215686274 1" />
      </material>
    </visual>
    <collision>
      <origin xyz="0 0 0" rpy="0 0 0" />
      <geometry>
        <mesh filename="../meshes/left_hand_index_rota_tip.STL" />
      </geometry>
    </collision>
  </link>
  <joint name="left_hand_index_rota_joint3" type="fixed">
    <origin xyz="0 0 -0.0424999999999991" rpy="0 0 0" />
    <parent link="left_hand_index_rota_link2" />
    <child link="left_hand_index_rota_tip" />
    <axis xyz="0 0 0" />
  </joint>
  <link name="left_hand_mid_link1">
    <inertial>
      <origin xyz="0.000139769503048257 0.00080051681932813 -0.0356038562198462" rpy="0 0 0" />
      <mass value="0.0630216000876532" />
      <inertia ixx="2.0518746354026E-05" ixy="7.80206454050682E-09" ixz="-4.29054815974796E-07" iyy="1.92422617602022E-05" iyz="-2.47027801809116E-07" izz="4.15027323551749E-06" />
    </inertial>
    <visual>
      <origin xyz="0 0 0" rpy="0 0 0" />
      <geometry>
        <mesh filename="../meshes/left_hand_mid_link1.STL" />
      </geometry>
      <material name="">
        <color rgba="1 1 1 1" />
      </material>
    </visual>
    <collision>
      <origin xyz="0 0 0" rpy="0 0 0" />
      <geometry>
        <mesh filename="../meshes/left_hand_mid_link1.STL" />
      </geometry>
    </collision>
  </link>
  <joint name="left_hand_mid_joint1" type="revolute">
    <origin xyz="0.004 -0.0065 -0.1082" rpy="0 0 0" />
    <parent link="left_hand_link" />
    <child link="left_hand_mid_link1" />
    <axis xyz="-1 0 0" />
    <limit lower="0" upper="1.92" effort="1.1" velocity="8.63" />
    <dynamics damping="1" friction="1" />
  </joint>
  <link name="left_hand_mid_link2">
    <inertial>
      <origin xyz="0.000338571504924487 -1.93625114516685E-05 -0.0231328477388325" rpy="0 0 0" />
      <mass value="0.0179922971238626" />
      <inertia ixx="3.01809863607458E-06" ixy="-4.91830289601756E-10" ixz="-9.09984854679422E-08" iyy="3.01983397037226E-06" iyz="-5.99889522310673E-08" izz="9.88538040128258E-07" />
    </inertial>
    <visual>
      <origin xyz="0 0 0" rpy="0 0 0" />
      <geometry>
        <mesh filename="../meshes/left_hand_mid_link2.STL" />
      </geometry>
      <material name="">
        <color rgba="0.866666666666667 0.866666666666667 0.890196078431372 1" />
      </material>
    </visual>
    <collision>
      <origin xyz="0 0 0" rpy="0 0 0" />
      <geometry>
        <mesh filename="../meshes/left_hand_mid_link2.STL" />
      </geometry>
    </collision>
  </link>
  <joint name="left_hand_mid_joint2" type="revolute">
    <origin xyz="0 0 -0.0558" rpy="0 0 0" />
    <parent link="left_hand_mid_link1" />
    <child link="left_hand_mid_link2" />
    <axis xyz="-1 0 0" />
    <limit lower="0" upper="1.92" effort="0.4" velocity="14.38" />
    <dynamics damping="1" friction="1" />
  </joint>
  <link name="left_hand_mid_tip">
    <inertial>
      <origin xyz="3.46944695195361E-18 -6.27969898303604E-15 0" rpy="0 0 0" />
      <mass value="3.53429173528852E-08" />
      <inertia ixx="3.97607820219958E-14" ixy="2.08752389989043E-28" ixz="2.52777196678215E-29" iyy="9.35114688295087E-14" iyz="-1.79366203433577E-43" izz="9.35114688295086E-14" />
    </inertial>
    <visual>
      <origin xyz="0 0 0" rpy="0 0 0" />
      <geometry>
        <mesh filename="../meshes/left_hand_mid_tip.STL" />
      </geometry>
      <material name="">
        <color rgba="0.698039215686274 0.698039215686274 0.698039215686274 1" />
      </material>
    </visual>
    <collision>
      <origin xyz="0 0 0" rpy="0 0 0" />
      <geometry>
        <mesh filename="../meshes/left_hand_mid_tip.STL" />
      </geometry>
    </collision>
  </link>
  <joint name="left_hand_mid_joint3" type="fixed">
    <origin xyz="0 0 -0.0424999999999995" rpy="0 0 0" />
    <parent link="left_hand_mid_link2" />
    <child link="left_hand_mid_tip" />
    <axis xyz="0 0 0" />
  </joint>
  <link name="left_hand_ring_link1">
    <inertial>
      <origin xyz="0.000139769503829958 0.00080051746545018 -0.0356038550320788" rpy="0 0 0" />
      <mass value="0.0630216034004235" />
      <inertia ixx="2.05187480603073E-05" ixy="7.80204473072652E-09" ixz="-4.29055143702643E-07" iyy="1.92422630398686E-05" iyz="-2.47028634316192E-07" izz="4.15027377034858E-06" />
    </inertial>
    <visual>
      <origin xyz="0 0 0" rpy="0 0 0" />
      <geometry>
        <mesh filename="../meshes/left_hand_ring_link1.STL" />
      </geometry>
      <material name="">
        <color rgba="1 1 1 1" />
      </material>
    </visual>
    <collision>
      <origin xyz="0 0 0" rpy="0 0 0" />
      <geometry>
        <mesh filename="../meshes/left_hand_ring_link1.STL" />
      </geometry>
    </collision>
  </link>
  <joint name="left_hand_ring_joint1" type="revolute">
    <origin xyz="-0.016 -0.0065 -0.1052" rpy="0 0 0" />
    <parent link="left_hand_link" />
    <child link="left_hand_ring_link1" />
    <axis xyz="-1 0 0" />
    <limit lower="0" upper="1.92" effort="1.1" velocity="8.63" />
    <dynamics damping="1" friction="1" />
  </joint>
  <link name="left_hand_ring_link2">
    <inertial>
      <origin xyz="0.000338569362970571 -1.93675642107764E-05 -0.0231328537916428" rpy="0 0 0" />
      <mass value="0.0179923074393582" />
      <inertia ixx="3.01810064426992E-06" ixy="-4.92130070945092E-10" ixz="-9.09991388750487E-08" iyy="3.0198354064253E-06" iyz="-5.99899932123125E-08" izz="9.88538891512388E-07" />
    </inertial>
    <visual>
      <origin xyz="0 0 0" rpy="0 0 0" />
      <geometry>
        <mesh filename="../meshes/left_hand_ring_link2.STL" />
      </geometry>
      <material name="">
        <color rgba="0.866666666666667 0.866666666666667 0.890196078431372 1" />
      </material>
    </visual>
    <collision>
      <origin xyz="0 0 0" rpy="0 0 0" />
      <geometry>
        <mesh filename="../meshes/left_hand_ring_link2.STL" />
      </geometry>
    </collision>
  </link>
  <joint name="left_hand_ring_joint2" type="revolute">
    <origin xyz="0 0 -0.0558" rpy="0 0 0" />
    <parent link="left_hand_ring_link1" />
    <child link="left_hand_ring_link2" />
    <axis xyz="-1 0 0" />
    <limit lower="0" upper="1.92" effort="0.4" velocity="14.38" />
    <dynamics damping="1" friction="1" />
  </joint>
  <link name="left_hand_ring_tip">
    <inertial>
      <origin xyz="3.46944695195361E-18 -6.36816988031086E-15 0" rpy="0 0 0" />
      <mass value="3.53429173528852E-08" />
      <inertia ixx="3.97607820219958E-14" ixy="2.08752389989043E-28" ixz="2.52777196678215E-29" iyy="9.35114688295087E-14" iyz="-1.79366203433577E-43" izz="9.35114688295087E-14" />
    </inertial>
    <visual>
      <origin xyz="0 0 0" rpy="0 0 0" />
      <geometry>
        <mesh filename="../meshes/left_hand_ring_tip.STL" />
      </geometry>
      <material name="">
        <color rgba="0.698039215686274 0.698039215686274 0.698039215686274 1" />
      </material>
    </visual>
    <collision>
      <origin xyz="0 0 0" rpy="0 0 0" />
      <geometry>
        <mesh filename="../meshes/left_hand_ring_tip.STL" />
      </geometry>
    </collision>
  </link>
  <joint name="left_hand_ring_joint3" type="fixed">
    <origin xyz="0 0 -0.0425" rpy="0 0 0" />
    <parent link="left_hand_ring_link2" />
    <child link="left_hand_ring_tip" />
    <axis xyz="0 0 0" />
  </joint>
  <link name="left_hand_pinky_link1">
    <inertial>
      <origin xyz="0.000139769403140894 0.000800517208403269 -0.0356038550457389" rpy="0 0 0" />
      <mass value="0.0630216018833023" />
      <inertia ixx="2.05187477543832E-05" ixy="7.80212984947717E-09" ixz="-4.29055030397585E-07" iyy="1.92422628106822E-05" iyz="-2.47028571410968E-07" izz="4.15027354474908E-06" />
    </inertial>
    <visual>
      <origin xyz="0 0 0" rpy="0 0 0" />
      <geometry>
        <mesh filename="../meshes/left_hand_pinky_link1.STL" />
      </geometry>
      <material name="">
        <color rgba="1 1 1 1" />
      </material>
    </visual>
    <collision>
      <origin xyz="0 0 0" rpy="0 0 0" />
      <geometry>
        <mesh filename="../meshes/left_hand_pinky_link1.STL" />
      </geometry>
    </collision>
  </link>
  <joint name="left_hand_pinky_joint1" type="revolute">
    <origin xyz="-0.036 -0.0065 -0.1022" rpy="0 0 0" />
    <parent link="left_hand_link" />
    <child link="left_hand_pinky_link1" />
    <axis xyz="-1 0 0" />
    <limit lower="0" upper="1.92" effort="1.1" velocity="8.63" />
    <dynamics damping="1" friction="1" />
  </joint>
  <link name="left_hand_pinky_link2">
    <inertial>
      <origin xyz="0.000338573187645894 -1.93618349248192E-05 -0.0231328439241562" rpy="0 0 0" />
      <mass value="0.0179922893932107" />
      <inertia ixx="3.01809788005842E-06" ixy="-4.91751568021702E-10" ixz="-9.09983567107085E-08" iyy="3.0198329418105E-06" iyz="-5.99887920223039E-08" izz="9.8853806652991E-07" />
    </inertial>
    <visual>
      <origin xyz="0 0 0" rpy="0 0 0" />
      <geometry>
        <mesh filename="../meshes/left_hand_pinky_link2.STL" />
      </geometry>
      <material name="">
        <color rgba="0.866666666666667 0.866666666666667 0.890196078431372 1" />
      </material>
    </visual>
    <collision>
      <origin xyz="0 0 0" rpy="0 0 0" />
      <geometry>
        <mesh filename="../meshes/left_hand_pinky_link2.STL" />
      </geometry>
    </collision>
  </link>
  <joint name="left_hand_pinky_joint2" type="revolute">
    <origin xyz="0 0 -0.0558" rpy="0 0 0" />
    <parent link="left_hand_pinky_link1" />
    <child link="left_hand_pinky_link2" />
    <axis xyz="-1 0 0" />
    <limit lower="0" upper="1.92" effort="0.4" velocity="14.38" />
    <dynamics damping="1" friction="1" />
  </joint>
  <link name="left_hand_pinky_tip">
    <inertial>
      <origin xyz="1.38777878078145E-17 -8.99974539336768E-15 0" rpy="0 0 0" />
      <mass value="3.53429173528851E-08" />
      <inertia ixx="3.97607820219958E-14" ixy="2.08752389989043E-28" ixz="2.52777196678213E-29" iyy="9.35114688295085E-14" iyz="-1.79366203433577E-43" izz="9.35114688295085E-14" />
    </inertial>
    <visual>
      <origin xyz="0 0 0" rpy="0 0 0" />
      <geometry>
        <mesh filename="../meshes/left_hand_pinky_tip.STL" />
      </geometry>
      <material name="">
        <color rgba="0.698039215686274 0.698039215686274 0.698039215686274 1" />
      </material>
    </visual>
    <collision>
      <origin xyz="0 0 0" rpy="0 0 0" />
      <geometry>
        <mesh filename="../meshes/left_hand_pinky_tip.STL" />
      </geometry>
    </collision>
  </link>
  <joint name="left_hand_pinky_joint3" type="fixed">
    <origin xyz="0 0 -0.0424999999999995" rpy="0 0 0" />
    <parent link="left_hand_pinky_link2" />
    <child link="left_hand_pinky_tip" />
    <axis xyz="0 0 0" />
  </joint> 

    <link name="right_arm_flange_link">
    </link> 
  <joint
    name="right_arm_flange_fixed_joint"
    type="fixed">
    <origin
      xyz="0.0 0.0 0.0"
      rpy="3.1415926 0.0 0.0" />
    <parent
      link="right_hand_base_link" />
    <child
      link="right_arm_flange_link" />
  </joint>  
  <!--right hand-->  
  <link name="right_hand_link">
    <inertial>
      <origin xyz="-0.00713969600456059 0.00342243593256283 -0.0584806731230685" rpy="0 0 0" />
      <mass value="0.530025137189824" />
      <inertia ixx="0.000480675299127658" ixy="-5.70774350447044E-06" ixz="-3.94757992682007E-05" iyy="0.000677544052393642" iyz="4.84926198036181E-06" izz="0.000346610500441846" />
    </inertial>
    <visual>
      <origin xyz="0 0 0" rpy="0 0 0" />
      <geometry>
        <mesh filename="../meshes/right_hand_link.STL" />
      </geometry>
      <material name="">
        <color rgba="0.792156862745098 0.819607843137255 0.933333333333333 1" />
      </material>
    </visual>
    <collision>
      <origin xyz="0 0 0" rpy="0 0 0" />
      <geometry>
        <mesh filename="../meshes/right_hand_link.STL" />
      </geometry>
    </collision>
  </link> 
  <joint
    name="right_hand_fixed_joint"
    type="fixed">
    <origin
      xyz="0.0 0.0 0.0"
      rpy="0.0 0.0 0.0" />
    <parent
      link="right_hand_base_link" />
    <child
      link="right_hand_link" />
  </joint>  
  <link name="right_hand_thumb_bend_link">
    <inertial>
      <origin xyz="0.0145290801349471 -0.000901302744009009 -0.000127925728837824" rpy="0 0 0" />
      <mass value="0.0098552942780609" />
      <inertia ixx="5.42973961076784E-07" ixy="1.1697377817489E-08" ixz="-3.74480550329303E-08" iyy="1.29129949885877E-06" iyz="1.54918667172288E-09" izz="1.30457450474268E-06" />
    </inertial>
    <visual>
      <origin xyz="0 0 0" rpy="0 0 0" />
      <geometry>
        <mesh filename="../meshes/right_hand_thumb_bend_link.STL" />
      </geometry>
      <material name="">
        <color rgba="0.890196078431372 0.890196078431372 0.913725490196078 1" />
      </material>
    </visual>
    <collision>
      <origin xyz="0 0 0" rpy="0 0 0" />
      <geometry>
        <mesh filename="../meshes/right_hand_thumb_bend_link.STL" />
      </geometry>
    </collision>
  </link>
  <joint name="right_hand_thumb_bend_joint" type="revolute">
    <origin xyz="0.0228 0.0095 -0.0305" rpy="0 0 0" />
    <parent link="right_hand_link" />
    <child link="right_hand_thumb_bend_link" />
    <axis xyz="0 0 1" />
    <limit lower="0" upper="1.83" effort="1.1" velocity="8.63" />
    <dynamics damping="1" friction="1" />
  </joint>
  <link name="right_hand_thumb_rota_link1">
    <inertial>
      <origin xyz="0.0279237160722458 -0.000127602868102849 -0.000272577361780019" rpy="0 0 0" />
      <mass value="0.153264803291678" />
      <inertia ixx="2.4165365258545E-05" ixy="-6.63197358473128E-06" ixz="1.94475216115701E-07" iyy="4.72108607465942E-05" iyz="-1.01931561408839E-07" izz="5.62288901300273E-05" />
    </inertial>
    <visual>
      <origin xyz="0 0 0" rpy="0 0 0" />
      <geometry>
        <mesh filename="../meshes/right_hand_thumb_rota_link1.STL" />
      </geometry>
      <material name="">
        <color rgba="1 1 1 1" />
      </material>
    </visual>
    <collision>
      <origin xyz="0 0 0" rpy="0 0 0" />
      <geometry>
        <mesh filename="../meshes/right_hand_thumb_rota_link1.STL" />
      </geometry>
    </collision>
  </link>
  <joint name="right_hand_thumb_rota_joint1" type="revolute">
    <origin xyz="0.028599 0.0083177 0.00178" rpy="0.2618 0 0.0407" />
    <parent link="right_hand_thumb_bend_link" />
    <child link="right_hand_thumb_rota_link1" />
    <axis xyz="0 1 0" />
    <limit lower="-1.05" upper="1.57" effort="1.1" velocity="8.63" />
    <dynamics damping="1" friction="1" />
  </joint>
  <link name="right_hand_thumb_rota_link2">
    <inertial>
      <origin xyz="0.0224697187075982 -0.000691342225602463 0.00302232046900801" rpy="0 0 0" />
      <mass value="0.0374003730407777" />
      <inertia ixx="3.98187483395831E-06" ixy="-4.9463629774215E-07" ixz="1.48034880030095E-07" iyy="8.21760971089748E-06" iyz="-5.85388102153786E-08" izz="9.53856476569885E-06" />
    </inertial>
    <visual>
      <origin xyz="0 0 0" rpy="0 0 0" />
      <geometry>
        <mesh filename="../meshes/right_hand_thumb_rota_link2.STL" />
      </geometry>
      <material name="">
        <color rgba="0.792156862745098 0.819607843137255 0.933333333333333 1" />
      </material>
    </visual>
    <collision>
      <origin xyz="0 0 0" rpy="0 0 0" />
      <geometry>
        <mesh filename="../meshes/right_hand_thumb_rota_link2.STL" />
      </geometry>
    </collision>
  </link>
  <joint name="right_hand_thumb_rota_joint2" type="revolute">
    <origin xyz="0.0553 0 0" rpy="0 0 0" />
    <parent link="right_hand_thumb_rota_link1" />
    <child link="right_hand_thumb_rota_link2" />
    <axis xyz="0 1 0" />
    <limit lower="-0.175" upper="1.83" effort="0.4" velocity="14.38" />
    <dynamics damping="1" friction="1" />
  </joint>
  <link name="right_hand_thumb_rota_tip">
    <inertial>
      <origin xyz="8.28680735143195E-10 -8.2445667376474E-09 2.77555756156289E-16" rpy="0 0 0" />
      <mass value="3.53429173528852E-08" />
      <inertia ixx="9.35114688295028E-14" ixy="1.78168632222544E-20" ixz="5.02898827078395E-30" iyy="3.97607820220018E-14" iyz="-6.5475455133344E-29" izz="9.35114688295088E-14" />
    </inertial>
    <visual>
      <origin xyz="0 0 0" rpy="0 0 0" />
      <geometry>
        <mesh filename="../meshes/right_hand_thumb_rota_tip.STL" />
      </geometry>
      <material name="">
        <color rgba="0.698039215686274 0.698039215686274 0.698039215686274 1" />
      </material>
    </visual>
    <collision>
      <origin xyz="0 0 0" rpy="0 0 0" />
      <geometry>
        <mesh filename="../meshes/right_hand_thumb_rota_tip.STL" />
      </geometry>
    </collision>
  </link>
  <joint name="right_hand_thumb_rota_joint3" type="fixed">
    <origin xyz="0.0504024546888781 0 0" rpy="0 0 0" />
    <parent link="right_hand_thumb_rota_link2" />
    <child link="right_hand_thumb_rota_tip" />
    <axis xyz="0 0 0" />
  </joint>
  <link name="right_hand_index_bend_link">
    <inertial>
      <origin xyz="8.08448802515592E-05 0.000675884062860609 0.00420851049166139" rpy="0 0 0" />
      <mass value="0.0677836037392839" />
      <inertia ixx="2.16567127431793E-05" ixy="9.29177767371407E-09" ixz="2.1345292815894E-07" iyy="2.09689353738481E-05" iyz="-6.68676922531782E-07" izz="3.39593434952634E-06" />
    </inertial>
    <visual>
      <origin xyz="0 0 0" rpy="0 0 0" />
      <geometry>
        <mesh filename="../meshes/right_hand_index_bend_link.STL" />
      </geometry>
      <material name="">
        <color rgba="0.43921568627451 0.43921568627451 0.43921568627451 1" />
      </material>
    </visual>
    <collision>
      <origin xyz="0 0 0" rpy="0 0 0" />
      <geometry>
        <mesh filename="../meshes/right_hand_index_bend_link.STL" />
      </geometry>
    </collision>
  </link>
  <joint name="right_hand_index_bend_joint" type="revolute">
    <origin xyz="0.0265 0.0065 -0.0899" rpy="0 0 0" />
    <parent link="right_hand_link" />
    <child link="right_hand_index_bend_link" />
    <axis xyz="0 1 0" />
    <limit lower="-0.175" upper="0.175" effort="0.4" velocity="14.38" />
    <dynamics damping="1" friction="1" />
  </joint>
  <link name="right_hand_index_rota_link1">
    <inertial>
      <origin xyz="-0.000139769529292743 -0.0008005173406112 -0.0356038554391181" rpy="0 0 0" />
      <mass value="0.0630216027459696" />
      <inertia ixx="2.05187473304044E-05" ixy="7.80203520045171E-09" ixz="4.29054958401514E-07" iyy="1.92422623666435E-05" iyz="2.47028335879796E-07" izz="4.15027364465252E-06" />
    </inertial>
    <visual>
      <origin xyz="0 0 0" rpy="0 0 0" />
      <geometry>
        <mesh filename="../meshes/right_hand_index_rota_link1.STL" />
      </geometry>
      <material name="">
        <color rgba="1 1 1 1" />
      </material>
    </visual>
    <collision>
      <origin xyz="0 0 0" rpy="0 0 0" />
      <geometry>
        <mesh filename="../meshes/right_hand_index_rota_link1.STL" />
      </geometry>
    </collision>
  </link>
  <joint name="right_hand_index_joint1" type="revolute">
    <origin xyz="0 0 -0.0178" rpy="0 0 0" />
    <parent link="right_hand_index_bend_link" />
    <child link="right_hand_index_rota_link1" />
    <axis xyz="1 0 0" />
    <limit lower="0" upper="1.92" effort="1.1" velocity="8.63" />
    <dynamics damping="1" friction="1" />
  </joint>
  <link name="right_hand_index_rota_link2">
    <inertial>
      <origin xyz="-0.000338569409191088 1.93676000460963E-05 -0.0231328539090889" rpy="0 0 0" />
      <mass value="0.0179923076356481" />
      <inertia ixx="3.01810066952146E-06" ixy="-4.92126710010375E-10" ixz="9.0999129965313E-08" iyy="3.01983543305207E-06" iyz="5.99900021060723E-08" izz="9.88538897829343E-07" />
    </inertial>
    <visual>
      <origin xyz="0 0 0" rpy="0 0 0" />
      <geometry>
        <mesh filename="../meshes/right_hand_index_rota_link2.STL" />
      </geometry>
      <material name="">
        <color rgba="0.866666666666667 0.866666666666667 0.890196078431372 1" />
      </material>
    </visual>
    <collision>
      <origin xyz="0 0 0" rpy="0 0 0" />
      <geometry>
        <mesh filename="../meshes/right_hand_index_rota_link2.STL" />
      </geometry>
    </collision>
  </link>
  <joint name="right_hand_index_joint2" type="revolute">
    <origin xyz="0 0 -0.0558" rpy="0 0 0" />
    <parent link="right_hand_index_rota_link1" />
    <child link="right_hand_index_rota_link2" />
    <axis xyz="1 0 0" />
    <limit lower="0" upper="1.92" effort="0.4" velocity="14.38" />
    <dynamics damping="1" friction="1" />
  </joint>
  <link name="right_hand_index_rota_tip">
    <inertial>
      <origin xyz="-2.98372437868011E-16 4.86850143532891E-15 -2.77555756156289E-17" rpy="0 0 0" />
      <mass value="3.53429173528852E-08" />
      <inertia ixx="3.97607820219958E-14" ixy="4.31827422870135E-29" ixz="1.6690203866884E-29" iyy="9.35114688295087E-14" iyz="1.37887768889562E-41" izz="9.35114688295087E-14" />
    </inertial>
    <visual>
      <origin xyz="0 0 0" rpy="0 0 0" />
      <geometry>
        <mesh filename="../meshes/right_hand_index_rota_tip.STL" />
      </geometry>
      <material name="">
        <color rgba="0.698039215686274 0.698039215686274 0.698039215686274 1" />
      </material>
    </visual>
    <collision>
      <origin xyz="0 0 0" rpy="0 0 0" />
      <geometry>
        <mesh filename="../meshes/right_hand_index_rota_tip.STL" />
      </geometry>
    </collision>
  </link>
  <joint name="right_hand_index_rota_joint3" type="fixed">
    <origin xyz="0 0 -0.0424999999999993" rpy="0 0 0" />
    <parent link="right_hand_index_rota_link2" />
    <child link="right_hand_index_rota_tip" />
    <axis xyz="0 0 0" />
  </joint>
  <link name="right_hand_mid_link1">
    <inertial>
      <origin xyz="-0.000139769452255069 -0.000800516966578778 -0.0356038561997856" rpy="0 0 0" />
      <mass value="0.0630216005457211" />
      <inertia ixx="2.05187463723375E-05" ixy="7.80208491082156E-09" ixz="4.29054729251827E-07" iyy="1.92422616109533E-05" iyz="2.47027898316091E-07" izz="4.15027334868904E-06" />
    </inertial>
    <visual>
      <origin xyz="0 0 0" rpy="0 0 0" />
      <geometry>
        <mesh filename="../meshes/right_hand_mid_link1.STL" />
      </geometry>
      <material name="">
        <color rgba="1 1 1 1" />
      </material>
    </visual>
    <collision>
      <origin xyz="0 0 0" rpy="0 0 0" />
      <geometry>
        <mesh filename="../meshes/right_hand_mid_link1.STL" />
      </geometry>
    </collision>
  </link>
  <joint name="right_hand_mid_joint1" type="revolute">
    <origin xyz="0.004 0.0065 -0.1082" rpy="0 0 0" />
    <parent link="right_hand_link" />
    <child link="right_hand_mid_link1" />
    <axis xyz="1 0 0" />
    <limit lower="0" upper="1.92" effort="1.1" velocity="8.63" />
    <dynamics damping="1" friction="1" />
  </joint>
  <link name="right_hand_mid_link2">
    <inertial>
      <origin xyz="-0.000338569410644367 1.93676002657236E-05 -0.0231328539105626" rpy="0 0 0" />
      <mass value="0.0179923076388667" />
      <inertia ixx="3.01810066972044E-06" ixy="-4.92126597550988E-10" ixz="9.09991296960493E-08" iyy="3.01983543347029E-06" iyz="5.99900021064019E-08" izz="9.88538897954892E-07" />
    </inertial>
    <visual>
      <origin xyz="0 0 0" rpy="0 0 0" />
      <geometry>
        <mesh filename="../meshes/right_hand_mid_link2.STL" />
      </geometry>
      <material name="">
        <color rgba="0.866666666666667 0.866666666666667 0.890196078431372 1" />
      </material>
    </visual>
    <collision>
      <origin xyz="0 0 0" rpy="0 0 0" />
      <geometry>
        <mesh filename="../meshes/right_hand_mid_link2.STL" />
      </geometry>
    </collision>
  </link>
  <joint name="right_hand_mid_joint2" type="revolute">
    <origin xyz="0 0 -0.0558" rpy="0 0 0" />
    <parent link="right_hand_mid_link1" />
    <child link="right_hand_mid_link2" />
    <axis xyz="1 0 0" />
    <limit lower="0" upper="1.92" effort="0.4" velocity="14.38" />
    <dynamics damping="1" friction="1" />
  </joint>
  <link name="right_hand_mid_tip">
    <inertial>
      <origin xyz="8.67361737988404E-19 6.7992486640911E-15 -0.000393026889207115" rpy="0 0 0" />
      <mass value="3.53429173528852E-08" />
      <inertia ixx="3.97607820219958E-14" ixy="4.6998091400205E-29" ixz="1.72625026613961E-29" iyy="9.35114688295087E-14" iyz="-1.34632261157722E-30" izz="9.35114688295087E-14" />
    </inertial>
    <visual>
      <origin xyz="0 0 0" rpy="0 0 0" />
      <geometry>
        <mesh filename="../meshes/right_hand_mid_tip.STL" />
      </geometry>
      <material name="">
        <color rgba="0.698039215686274 0.698039215686274 0.698039215686274 1" />
      </material>
    </visual>
    <collision>
      <origin xyz="0 0 0" rpy="0 0 0" />
      <geometry>
        <mesh filename="../meshes/right_hand_mid_tip.STL" />
      </geometry>
    </collision>
  </link>
  <joint name="right_hand_mid_joint3" type="fixed">
    <origin xyz="0 0 -0.042107" rpy="0 0 0" />
    <parent link="right_hand_mid_link2" />
    <child link="right_hand_mid_tip" />
    <axis xyz="0 0 0" />
  </joint>
  <link name="right_hand_ring_link1">
    <inertial>
      <origin xyz="-0.000139769594263359 -0.000800517227339018 -0.0356038552802108" rpy="0 0 0" />
      <mass value="0.0630216021699602" />
      <inertia ixx="2.05187476755252E-05" ixy="7.80199293997393E-09" ixz="4.29055082722493E-07" iyy="1.92422628261764E-05" iyz="2.47028487672885E-07" izz="4.15027358505553E-06" />
    </inertial>
    <visual>
      <origin xyz="0 0 0" rpy="0 0 0" />
      <geometry>
        <mesh filename="../meshes/right_hand_ring_link1.STL" />
      </geometry>
      <material name="">
        <color rgba="1 1 1 1" />
      </material>
    </visual>
    <collision>
      <origin xyz="0 0 0" rpy="0 0 0" />
      <geometry>
        <mesh filename="../meshes/right_hand_ring_link1.STL" />
      </geometry>
    </collision>
  </link>
  <joint name="right_hand_ring_joint1" type="revolute">
    <origin xyz="-0.016 0.0065 -0.1052" rpy="0 0 0" />
    <parent link="right_hand_link" />
    <child link="right_hand_ring_link1" />
    <axis xyz="1 0 0" />
    <limit lower="0" upper="1.92" effort="1.1" velocity="8.63" />
    <dynamics damping="1" friction="1" />
  </joint>
  <link name="right_hand_ring_link2">
    <inertial>
      <origin xyz="-0.00033857292489315 1.9362209649449E-05 -0.0231328478093387" rpy="0 0 0" />
      <mass value="0.0179922978524175" />
      <inertia ixx="3.01809858290111E-06" ixy="-4.91620007394315E-10" ixz="9.09983307330798E-08" iyy="3.01983382489043E-06" iyz="5.99889823171253E-08" izz="9.88537681686488E-07" />
    </inertial>
    <visual>
      <origin xyz="0 0 0" rpy="0 0 0" />
      <geometry>
        <mesh filename="../meshes/right_hand_ring_link2.STL" />
      </geometry>
      <material name="">
        <color rgba="0.866666666666667 0.866666666666667 0.890196078431372 1" />
      </material>
    </visual>
    <collision>
      <origin xyz="0 0 0" rpy="0 0 0" />
      <geometry>
        <mesh filename="../meshes/right_hand_ring_link2.STL" />
      </geometry>
    </collision>
  </link>
  <joint name="right_hand_ring_joint2" type="revolute">
    <origin xyz="0 0 -0.0558" rpy="0 0 0" />
    <parent link="right_hand_ring_link1" />
    <child link="right_hand_ring_link2" />
    <axis xyz="1 0 0" />
    <limit lower="0" upper="1.92" effort="0.4" velocity="14.38" />
    <dynamics damping="1" friction="1" />
  </joint>
  <link name="right_hand_ring_tip">
    <inertial>
      <origin xyz="-6.93889390390723E-18 6.85042300663241E-15 0" rpy="0 0 0" />
      <mass value="3.53429173528852E-08" />
      <inertia ixx="3.97607820219958E-14" ixy="4.5336858465537E-29" ixz="1.6690203866884E-29" iyy="9.35114688295086E-14" iyz="1.38111976643854E-41" izz="9.35114688295086E-14" />
    </inertial>
    <visual>
      <origin xyz="0 0 0" rpy="0 0 0" />
      <geometry>
        <mesh filename="../meshes/right_hand_ring_tip.STL" />
      </geometry>
      <material name="">
        <color rgba="0.698039215686274 0.698039215686274 0.698039215686274 1" />
      </material>
    </visual>
    <collision>
      <origin xyz="0 0 0" rpy="0 0 0" />
      <geometry>
        <mesh filename="../meshes/right_hand_ring_tip.STL" />
      </geometry>
    </collision>
  </link>
  <joint name="right_hand_ring_joint3" type="fixed">
    <origin xyz="0 0 -0.0424999999999994" rpy="0 0 0" />
    <parent link="right_hand_ring_link2" />
    <child link="right_hand_ring_tip" />
    <axis xyz="0 0 0" />
  </joint>
  <link name="right_hand_pinky_link1">
    <inertial>
      <origin xyz="-0.000139769192568043 -0.000800516820207079 -0.035603856454747" rpy="0 0 0" />
      <mass value="0.0630215991316208" />
      <inertia ixx="2.05187455958907E-05" ixy="7.80222924483364E-09" ixz="4.29054564778114E-07" iyy="1.92422608092939E-05" iyz="2.47027716010302E-07" izz="4.15027320974138E-06" />
    </inertial>
    <visual>
      <origin xyz="0 0 0" rpy="0 0 0" />
      <geometry>
        <mesh filename="../meshes/right_hand_pinky_link1.STL" />
      </geometry>
      <material name="">
        <color rgba="1 1 1 1" />
      </material>
    </visual>
    <collision>
      <origin xyz="0 0 0" rpy="0 0 0" />
      <geometry>
        <mesh filename="../meshes/right_hand_pinky_link1.STL" />
      </geometry>
    </collision>
  </link>
  <joint name="right_hand_pinky_joint1" type="revolute">
    <origin xyz="-0.036 0.0065 -0.1022" rpy="0 0 0" />
    <parent link="right_hand_link" />
    <child link="right_hand_pinky_link1" />
    <axis xyz="1 0 0" />
    <limit lower="0" upper="1.92" effort="1.1" velocity="8.63" />
    <dynamics damping="1" friction="1" />
  </joint>
  <link name="right_hand_pinky_link2">
    <inertial>
      <origin xyz="-0.000338569414719665 1.93675989681556E-05 -0.0231328539159371" rpy="0 0 0" />
      <mass value="0.0179923076462156" />
      <inertia ixx="3.0181006709957E-06" ixy="-4.92126474056121E-10" ixz="9.0999128816634E-08" iyy="3.01983543495617E-06" iyz="5.99900018674419E-08" izz="9.88538897929235E-07" />
    </inertial>
    <visual>
      <origin xyz="0 0 0" rpy="0 0 0" />
      <geometry>
        <mesh filename="../meshes/right_hand_pinky_link2.STL" />
      </geometry>
      <material name="">
        <color rgba="0.866666666666667 0.866666666666667 0.890196078431372 1" />
      </material>
    </visual>
    <collision>
      <origin xyz="0 0 0" rpy="0 0 0" />
      <geometry>
        <mesh filename="../meshes/right_hand_pinky_link2.STL" />
      </geometry>
    </collision>
  </link>
  <joint name="right_hand_pinky_joint2" type="revolute">
    <origin xyz="0 0 -0.0558" rpy="0 0 0" />
    <parent link="right_hand_pinky_link1" />
    <child link="right_hand_pinky_link2" />
    <axis xyz="1 0 0" />
    <limit lower="0" upper="1.92" effort="0.4" velocity="14.38" />
    <dynamics damping="1" friction="1" />
  </joint>
  <link name="right_hand_pinky_tip">
    <inertial>
      <origin xyz="2.08166817117217E-17 9.41000749543619E-15 0" rpy="0 0 0" />
      <mass value="3.53429173528851E-08" />
      <inertia ixx="3.97607820219958E-14" ixy="4.31827422870134E-29" ixz="1.66902038668838E-29" iyy="9.35114688295085E-14" iyz="1.37887768889562E-41" izz="9.35114688295085E-14" />
    </inertial>
    <visual>
      <origin xyz="0 0 0" rpy="0 0 0" />
      <geometry>
        <mesh filename="../meshes/right_hand_pinky_tip.STL" />
      </geometry>
      <material name="">
        <color rgba="0.698039215686274 0.698039215686274 0.698039215686274 1" />
      </material>
    </visual>
    <collision>
      <origin xyz="0 0 0" rpy="0 0 0" />
      <geometry>
        <mesh filename="../meshes/right_hand_pinky_tip.STL" />
      </geometry>
    </collision>
  </link>
  <joint name="right_hand_pinky_joint3" type="fixed">
    <origin xyz="0 0 -0.0425" rpy="0 0 0" />
    <parent link="right_hand_pinky_link2" />
    <child link="right_hand_pinky_tip" />
    <axis xyz="0 0 0" />
  </joint> 
</robot>
